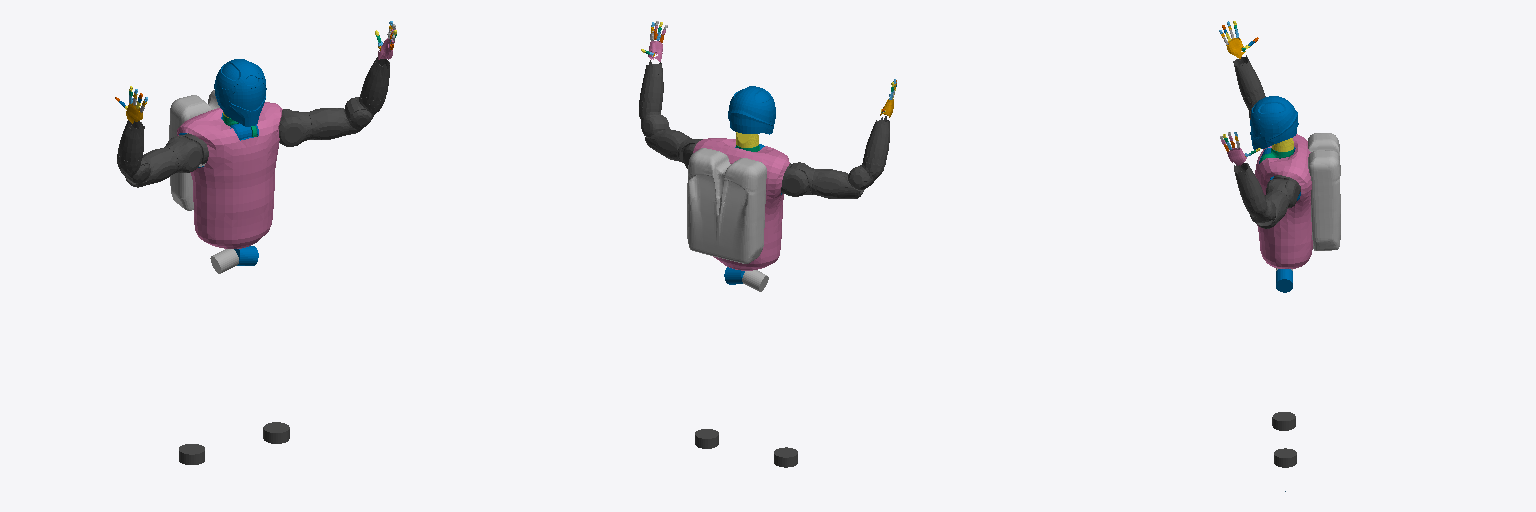
--- Facts derived from the render (not from the file) ---
3 views of the same robot in one strip: view 1: azimuth 30°, elevation 25°; view 2: azimuth 150°, elevation 25°; view 3: azimuth 270°, elevation 25° (orthographic).
Robot: r2 — 130 links, 129 joints (73 revolute, 1 prismatic, 55 fixed); root link world; default pose: joints at zero except 4 at the middle of their limits (r2/left_arm/joint2 = -2.84, r2/left_arm/joint3 = -1.44, r2/right_arm/joint2 = 2.84, r2/right_arm/joint3 = -1.44).
Visible links, largest first — view 1: r2/body_cover, r2/neck_roll, r2/backpack, r2/left_upper_arm, r2/right_upper_arm, r2/left_shoulder_pitch, r2/left_lower_arm, r2/right_lower_arm, r2/right_shoulder_pitch; view 2: r2/backpack, r2/body_cover, r2/neck_roll, r2/right_upper_arm, r2/left_lower_arm, r2/right_lower_arm, r2/left_upper_arm, r2/right_elbow, r2/right_shoulder_roll, r2/left_elbow; view 3: r2/body_cover, r2/backpack, r2/neck_roll, r2/right_lower_arm, r2/left_lower_arm, r2/left_upper_arm.
Link boxes in pixels (x1,y1,x2,y2): r2/body_cover: (177,102,282,248); r2/neck_roll: (214,59,266,126); r2/backpack: (169,90,219,210); r2/left_upper_arm: (308,108,371,139); r2/right_upper_arm: (125,147,178,187); r2/left_shoulder_pitch: (279,110,311,146); r2/left_lower_arm: (361,57,389,105); r2/right_lower_arm: (117,120,144,166); r2/right_shoulder_pitch: (165,137,202,172); r2/backpack: (687,148,766,263); r2/body_cover: (693,138,789,270); r2/neck_roll: (728,86,775,134); r2/right_upper_arm: (812,169,864,198); r2/left_lower_arm: (639,60,663,108); r2/right_lower_arm: (863,116,889,165); r2/left_upper_arm: (645,127,689,161); r2/right_elbow: (848,161,884,189); r2/right_shoulder_roll: (781,163,808,196); r2/left_elbow: (639,107,668,136); r2/body_cover: (1255,134,1312,268); r2/backpack: (1308,133,1340,250); r2/neck_roll: (1250,96,1298,149); r2/right_lower_arm: (1233,55,1264,102); r2/left_lower_arm: (1234,163,1264,207); r2/left_upper_arm: (1250,190,1288,228).
Bounding box of the posed robot: 1.55 × 0.6953 × 2.48 m (x, y, z).
Meshes: 33 distinct files referenced, 56 mesh visuals loaded (29 Collada DAE); not drawn: 13 (reference not matched to a file when rendering).

The robot description file, URDF, robot "r2":
<?xml version="1.0" ?>
<!-- =================================================================================== -->
<!-- |    This document was autogenerated by xacro from r2_fullbody.sim.urdf.xacro     | -->
<!-- |    EDITING THIS FILE BY HAND IS NOT RECOMMENDED                                 | -->
<!-- =================================================================================== -->
<robot name="r2" xmlns:controller="http://playerstage.sourceforge.net/gazebo/xmlschema/#controller" xmlns:interface="http://playerstage.sourceforge.net/gazebo/xmlschema/#interface" xmlns:sensor="http://playerstage.sourceforge.net/gazebo/xmlschema/#sensor" xmlns:xacro="http://playerstage.sourceforge.net/gazebo/xmlschema/#interface">
  <link name="world"/>
  <joint name="r2/fixed/world/robot_world" type="fixed">
    <parent link="world"/>
    <child link="r2/robot_world"/>
    <origin rpy="0 0 0.0" xyz="0.0 0.0 0.0"/>
  </joint>
  <link name="r2/robot_world"/>
  <joint name="r2/fixed/robot_world/robot_base" type="fixed">
    <parent link="r2/robot_world"/>
    <child link="r2/robot_base"/>
    <origin rpy="0 3.14159 1.57079" xyz="0.255 0.9 1.365"/>
  </joint>
  <link name="r2/robot_base"/>
  <joint name="r2/fixed/robot_base/leg_stand_connection" type="fixed">
    <parent link="r2/robot_base"/>
    <child link="r2/leg_stand_connection"/>
    <origin rpy="0 3.14159 0" xyz="0.0 0.0 0.0"/>
  </joint>
  <link name="r2/leg_stand_connection">
    <inertial>
      <mass value="0.01"/>
      <inertia ixx="0.0001" ixy="0.0" ixz="0.0" iyy="0.001" iyz="0.0" izz="0.001"/>
    </inertial>
  </link>
  <material name="white">
    <color rgba="1.0 1.0 1.0 1.0"/>
  </material>
  <material name="dirty_white">
    <color rgba="0.322 0.322 0.322 1.0"/>
  </material>
  <material name="gold">
    <color rgba=".878 .49 0.008 1"/>
  </material>
  <material name="steel">
    <color rgba=".7 .7 .7 1"/>
  </material>
  <material name="blue">
    <color rgba="0 0 0.8 1"/>
  </material>
  <joint name="r2/waist/joint0" type="revolute">
    <parent link="r2/robot_base"/>
    <child link="r2/waist_center"/>
    <axis xyz="0 0 1"/>
    <origin rpy="0.0 0 0.0" xyz="0.0 0.0 0.0"/>
    <dynamics damping="20.0" friction="1.0"/>
    <limit effort="10000000.0" lower="-3.14" upper="3.14" velocity="1000"/>
  </joint>
  <link name="r2/waist_center">
    <visual>
      <geometry>
        <mesh filename="package://r2_description/meshes/Body.dae"/>
      </geometry>
      <origin rpy="-1.57 0 -1.57" xyz="0.01 0.05 -0.5625"/>
    </visual>
    <!-- <collision>
      <geometry>
         <mesh filename="package://r2_description/meshes/Body.dae"/>  
      </geometry>
      <origin rpy="-1.57 0 -1.57" xyz="0.00 0.05 -0.5625"/>
    </collision> -->
    <inertial>
      <mass value="10"/>
      <inertia ixx="1" ixy="0.0" ixz="0.0" iyy="1" iyz="0.0" izz="1"/>
    </inertial>
  </link>
  <joint name="r2/fixed/waist_center/robot_reference" type="fixed">
    <parent link="r2/waist_center"/>
    <child link="r2/robot_reference"/>
    <origin rpy="0.0 0 0.0" xyz="0.1234 0.0 0.0"/>
  </joint>
  <joint name="r2/fixed/waist_center/body_cover" type="fixed">
    <parent link="r2/waist_center"/>
    <child link="r2/body_cover"/>
    <origin rpy="0.0 0.0 0.0" xyz="0 0.0 0.0"/>
  </joint>
  <joint name="r2/fixed/waist_center/backpack" type="fixed">
    <parent link="r2/waist_center"/>
    <child link="r2/backpack"/>
    <origin rpy="0.0 0.0 0.0" xyz="0 0.0 0.0"/>
  </joint>
  <joint name="r2/fixed/waist_center/chest_center" type="fixed">
    <parent link="r2/waist_center"/>
    <child link="r2/chest_center"/>
    <origin rpy="0.0 0.0 0.0" xyz="-0.01235 0.0 0.0"/>
  </joint>
  <link name="r2/robot_reference">
    <inertial>
      <mass value="0.01"/>
      <inertia ixx="0.0001" ixy="0.0" ixz="0.0" iyy="0.001" iyz="0.0" izz="0.001"/>
    </inertial>
  </link>
  <link name="r2/body_cover">
    <visual>
      <geometry>
        <mesh filename="package://r2_description/meshes/Body_Cover.dae"/>
      </geometry>
      <!--       <origin rpy="-1.57 0 -1.57" xyz="0.02 0.05 -0.5625"/>
 -->
      <origin rpy="-1.57 0 -1.57" xyz="0.01 0.05 -0.5625"/>
    </visual>
    <collision>
      <geometry>
        <mesh filename="package://r2_description/meshes/Body_Cover.dae"/>
      </geometry>
      <origin rpy="-1.57 0 -1.57" xyz="0.01 0.05 -0.5625"/>
    </collision>
    <inertial>
      <mass value="0.1"/>
      <inertia ixx="0.001" ixy="0.0" ixz="0.0" iyy="0.001" iyz="0.0" izz="0.001"/>
    </inertial>
  </link>
  <link name="r2/backpack">
    <visual>
      <geometry>
        <mesh filename="package://r2_description/meshes/Backpack.dae"/>
      </geometry>
      <origin rpy="0 0 0.25" xyz="0.0 0.0 -0.54"/>
    </visual>
    <collision>
      <geometry>
        <mesh filename="package://r2_description/meshes/Backpack.dae"/>
      </geometry>
      <origin rpy="0 0 0.25" xyz="0.0 0.0 -0.54"/>
    </collision>
    <inertial>
      <mass value="10"/>
      <inertia ixx="1" ixy="0.0" ixz="0.0" iyy="1" iyz="0.0" izz="1"/>
    </inertial>
  </link>
  <link name="r2/chest_center">
    <inertial>
      <mass value="0.01"/>
      <inertia ixx="0.0001" ixy="0.0" ixz="0.0" iyy="0.001" iyz="0.0" izz="0.001"/>
    </inertial>
  </link>
  <joint name="r2/fixed/chest_center/chest_base" type="fixed">
    <parent link="r2/chest_center"/>
    <child link="r2/chest_base"/>
    <origin rpy="0.0 -0.0 0.0 " xyz="-0.05299202 -0.0 -0.5442458"/>
  </joint>
  <link name="r2/chest_base">
    <inertial>
      <mass value="0.01"/>
      <inertia ixx="0.0001" ixy="0.0" ixz="0.0" iyy="0.001" iyz="0.0" izz="0.001"/>
    </inertial>
  </link>
  <joint name="r2/neck/joint0" type="revolute">
    <parent link="r2/waist_center"/>
    <child link="r2/neck_base"/>
    <origin rpy=" -1.570796 -0.0 0.0 " xyz=" 0.08636 0.0 -0.6142228 "/>
    <dynamics damping="1.0" friction="0.0"/>
    <axis xyz="0 0 1"/>
    <limit effort="10000.0" lower="-0.7" upper="0.175" velocity="1000.0"/>
  </joint>
  <link name="r2/neck_base">
    <visual>
      <geometry>
        <mesh filename="package://r2_description/meshes/Neck_Lower.dae"/>
      </geometry>
      <origin rpy="-1.57 1.57 0" xyz="0.0 0.0 0.0"/>
    </visual>
    <inertial>
      <mass value=".1"/>
      <inertia ixx=".0010" ixy="0.0" ixz="0.0" iyy=".0010" iyz="0.0" izz=".0010"/>
    </inertial>
    <collision>
      <geometry>
        <mesh filename="package://r2_description/meshes/Neck_Lower.dae"/>
      </geometry>
      <origin rpy="-1.57 1.57 0" xyz="0.0 0.0 0.0"/>
    </collision>
  </link>
  <joint name="r2/neck/joint1" type="revolute">
    <parent link="r2/neck_base"/>
    <child link="r2/neck_lower_pitch"/>
    <origin rpy=" -1.570796 -0.0 0.0 " xyz=" -0.0762 -0.0 0.0 "/>
    <dynamics damping="1.0" friction="0.0"/>
    <axis xyz="0 0 1"/>
    <limit effort="10000.0" lower="-1.22" upper="1.22" velocity="1000.0"/>
  </joint>
  <link name="r2/neck_lower_pitch">
    <visual>
      <geometry>
        <mesh filename="package://r2_description/meshes/Neck_Upper.dae"/>
      </geometry>
      <origin rpy="0 0 1.57" xyz="0.075 0.0 0.0"/>
    </visual>
    <inertial>
      <mass value=".1"/>
      <inertia ixx=".0010" ixy="0.0" ixz="0.0" iyy=".0010" iyz="0.0" izz=".0010"/>
    </inertial>
    <collision>
      <geometry>
        <mesh filename="package://r2_description/meshes/Neck_Upper.dae"/>
      </geometry>
      <origin rpy="0 0 1.57" xyz="0.075 0.0 0.0"/>
    </collision>
  </link>
  <joint name="r2/neck/joint2" type="revolute">
    <parent link="r2/neck_lower_pitch"/>
    <child link="r2/neck_roll"/>
    <origin rpy=" 1.570796 -0.0 0.0 " xyz=" 0.0508 0.0 0.1777619 "/>
    <dynamics damping="1.0" friction="0.0"/>
    <axis xyz="0 0 1"/>
    <limit effort="10000.0" lower="-0.7" upper="0.175" velocity="1000.0"/>
  </joint>
  <link name="r2/neck_roll">
    <visual>
      <geometry>
        <mesh filename="package://r2_description/meshes/Head.dae"/>
      </geometry>
      <origin rpy="0 1.57 0" xyz="-0.0 0.07 0.0"/>
    </visual>
    <collision>
      <geometry>
        <mesh filename="package://r2_description/meshes/Head.dae"/>
      </geometry>
      <origin rpy="0 1.57 0" xyz="-0.0 0.07 0.0"/>
    </collision>
    <inertial>
      <mass value=".1"/>
      <inertia ixx=".0010" ixy="0.0" ixz="0.0" iyy=".0010" iyz="0.0" izz=".0010"/>
    </inertial>
  </link>
  <joint name="r2/fixed/neck_roll/neck_upper_pitch" type="fixed">
    <parent link="r2/neck_roll"/>
    <child link="r2/neck_upper_pitch"/>
    <origin rpy=" 1.570796 -0.0 0.0 " xyz=" 0.0 0.0 0.0 "/>
  </joint>
  <link name="r2/neck_upper_pitch">
    <inertial>
      <mass value=".1"/>
      <inertia ixx=".0010" ixy="0.0" ixz="0.0" iyy=".0010" iyz="0.0" izz=".0010"/>
    </inertial>
  </link>
  <joint name="r2/fixed/neck_upper_pitch/asus_frame" type="fixed">
    <parent link="r2/neck_upper_pitch"/>
    <child link="r2/asus_frame"/>
    <origin rpy="1.50 0.0 1.57 " xyz="0.12 -0.015 -0.14 "/>
    <!-- OK    <origin rpy="1.45 0 1.57 " xyz="0.11 -0.040 -0.15 "/>  -->
    <!-- ORIGINAL     <origin rpy="1.57 0 1.57 " xyz="0.066675 -0.0508 -0.116205 "/>  -->
  </joint>
  <joint name="r2/fixed/neck_upper_pitch/simulated_asus_camera_frame" type="fixed">
    <parent link="r2/neck_upper_pitch"/>
    <child link="r2/simulated_asus_camera_frame"/>
    <dynamics damping="1.0"/>
    <origin rpy="3.14 0 0" xyz="0.12 -0.015 -0.14 "/>
    <!--     <origin rpy="0 0 0" xyz="0.12 -0.015 -0.14 "/> -->
  </joint>
  <joint name="r2/fixed/neck_upper_pitch/simulated_asus_depth_frame" type="fixed">
    <parent link="r2/neck_upper_pitch"/>
    <child link="r2/simulated_asus_depth_frame"/>
    <dynamics damping="1.0"/>
    <origin rpy="1.57 0 1.57" xyz="0.12 -0.015 -0.14 "/>
    <!--     <origin rpy="0 0 0" xyz="0.12 -0.015 -0.14 "/> -->
  </joint>
  <joint name="r2/fixed/neck_upper_pitch/vision_center_frame" type="fixed">
    <parent link="r2/neck_upper_pitch"/>
    <child link="r2/vision_center_frame"/>
    <dynamics damping="1.0"/>
    <origin rpy="1.57 -1.57 1.57" xyz=" 0.066675 0.0 -0.116205 "/>
  </joint>
  <link name="r2/asus_frame">
    <inertial>
      <mass value=".01"/>
      <inertia ixx=".0010" ixy="0.0" ixz="0.0" iyy=".0010" iyz="0.0" izz=".0010"/>
    </inertial>
  </link>
  <joint name="r2/fixed/asus_frame/openni_depth_frame" type="fixed">
    <parent link="r2/asus_frame"/>
    <child link="r2/openni_depth_frame"/>
    <origin rpy="1.57 -1.57 0 " xyz="0 0 0 "/>
  </joint>
  <link name="r2/openni_depth_frame">
    <inertial>
      <mass value=".01"/>
      <inertia ixx=".0010" ixy="0.0" ixz="0.0" iyy=".0010" iyz="0.0" izz=".0010"/>
    </inertial>
  </link>
  <link name="r2/simulated_asus_camera_frame">
    <inertial>
      <mass value=".01"/>
      <inertia ixx=".0010" ixy="0.0" ixz="0.0" iyy=".0010" iyz="0.0" izz=".0010"/>
    </inertial>
  </link>
  <link name="r2/simulated_asus_depth_frame">
    <inertial>
      <mass value=".01"/>
      <inertia ixx=".0010" ixy="0.0" ixz="0.0" iyy=".0010" iyz="0.0" izz=".0010"/>
    </inertial>
  </link>
  <link name="r2/vision_center_frame">
    <inertial>
      <mass value=".1"/>
      <inertia ixx=".0010" ixy="0.0" ixz="0.0" iyy=".0010" iyz="0.0" izz=".0010"/>
    </inertial>
  </link>
  <joint name="r2/fixed/vision_center_frame/left_camera_frame" type="fixed">
    <parent link="r2/vision_center_frame"/>
    <child link="r2/left_camera_frame"/>
    <dynamics damping="1.0"/>
    <origin rpy="0 0 1.57" xyz="0.0087 0.04887 0.01789"/>
  </joint>
  <joint name="r2/fixed/vision_center_frame/right_camera_frame" type="fixed">
    <parent link="r2/vision_center_frame"/>
    <child link="r2/right_camera_frame"/>
    <dynamics damping="1.0"/>
    <origin rpy="0 0 1.57" xyz="0.0087 -0.04887 0.01789"/>
  </joint>
  <link name="r2/left_camera_frame">
    <inertial>
      <mass value=".1"/>
      <inertia ixx=".0010" ixy="0.0" ixz="0.0" iyy=".0010" iyz="0.0" izz=".0010"/>
    </inertial>
  </link>
  <joint name="r2/fixed/left_camera_frame/left_camera_optical_frame" type="fixed">
    <parent link="r2/left_camera_frame"/>
    <child link="r2/left_camera_optical_frame"/>
    <dynamics damping="1.0"/>
    <origin rpy="-1.57 -1.57 0" xyz="0 0 0"/>
  </joint>
  <link name="r2/left_camera_optical_frame">
    <inertial>
      <mass value=".1"/>
      <inertia ixx=".0010" ixy="0.0" ixz="0.0" iyy=".0010" iyz="0.0" izz=".0010"/>
    </inertial>
  </link>
  <link name="r2/right_camera_frame">
    <inertial>
      <mass value=".1"/>
      <inertia ixx=".0010" ixy="0.0" ixz="0.0" iyy=".0010" iyz="0.0" izz=".0010"/>
    </inertial>
  </link>
  <joint name="r2/fixed/right_camera_frame/right_camera_optical_frame" type="fixed">
    <parent link="r2/right_camera_frame"/>
    <child link="r2/right_camera_optical_frame"/>
    <dynamics damping="1.0"/>
    <origin rpy="-1.57 -1.57 0" xyz="0 0 0"/>
  </joint>
  <link name="r2/right_camera_optical_frame">
    <inertial>
      <mass value=".1"/>
      <inertia ixx=".0010" ixy="0.0" ixz="0.0" iyy=".0010" iyz="0.0" izz=".0010"/>
    </inertial>
  </link>
  <joint name="r2/left_arm/joint0" type="revolute">
    <parent link="r2/chest_base"/>
    <child link="r2/left_shoulder_roll"/>
    <origin rpy=" -1.5664 -0.0 -2.8802 " xyz=" -0.0 -0.0 0.0 "/>
    <axis xyz="0 0 1"/>
    <dynamics damping="10.0" friction="0.0"/>
    <limit effort="100.0" lower="-1.57" upper="1.57" velocity="1000"/>
  </joint>
  <link name="r2/left_shoulder_roll">
    <visual>
      <geometry>
        <mesh filename="package://r2_description/meshes/Left_Shoulder_Upper.dae"/>
      </geometry>
      <material name="dirty_white"/>
      <origin rpy="0 0 1.57" xyz="0 0 .08"/>
    </visual>
    <!-- <collision>
      <geometry>
        <mesh filename="package://r2_description/meshes/Left_Shoulder_Upper.dae" scale="0.7 0.7 0.7"/>
      </geometry>
      <origin rpy="0 0 1.57" xyz="0 0 .08"/>
    </collision> -->
    <inertial>
      <origin xyz="-0.0089916 -0.00131572   0.10287   "/>
      <mass value="6.168856232"/>
      <inertia ixx="0.0198585269" ixy="-0.0060195977" ixz="-0.0003950635" iyy="0.0671900643" iyz="0.00012683" izz="0.0634150128"/>
    </inertial>
  </link>
  <joint name="r2/left_arm/joint1" type="revolute">
    <parent link="r2/left_shoulder_roll"/>
    <child link="r2/left_shoulder_pitch"/>
    <origin rpy=" -1.5701 -0.0 1.570796 " xyz=" 0.0 0.0 0.316611 "/>
    <axis xyz="0 0 1"/>
    <dynamics damping="10.0" friction="0.0"/>
    <limit effort="100.0" lower="-1.66" upper=".175" velocity="1000"/>
  </joint>
  <link name="r2/left_shoulder_pitch">
    <visual>
      <geometry>
        <mesh filename="package://r2_description/meshes/Left_Shoulder_Lower.dae"/>
      </geometry>
      <material name="dirty_white"/>
      <origin rpy=".0 0 -1.57" xyz="0 0 0"/>
    </visual>
    <!-- <collision>
      <geometry>
        <mesh filename="package://r2_description/meshes/Left_Shoulder_Lower.dae"/>
      </geometry>
      <origin rpy=".0 0 -1.57" xyz="0 0 0"/>
    </collision> -->
    <inertial>
      <origin xyz="0.037084 -0.00028448   0.0077978   "/>
      <mass value="4.4270615312"/>
      <inertia ixx="0.02701064" ixy="0.001512947" ixz="-0.000052382497887" iyy="0.0113836825" iyz="0.0000217138622526" izz="0.0251962741"/>
    </inertial>
  </link>
  <joint name="r2/left_arm/joint2" type="revolute">
    <parent link="r2/left_shoulder_pitch"/>
    <child link="r2/left_upper_arm"/>
    <origin rpy=" 1.57 -0.0 0.0 " xyz=" 0.0 0.0 0.0 "/>
    <axis xyz="0 0 1"/>
    <dynamics damping="10.0" friction="0.0"/>
    <limit effort="100.0" lower="-4.89" upper="-0.79" velocity="1000"/>
  </joint>
  <link name="r2/left_upper_arm">
    <visual>
      <geometry>
        <mesh filename="package://r2_description/meshes/Left_Upper_Arm.dae"/>
      </geometry>
      <material name="dirty_white"/>
      <origin rpy="0 0 3.14" xyz="0 0 .1016"/>
    </visual>
    <collision>
      <geometry>
        <mesh filename="package://r2_description/meshes/Left_Upper_Arm.dae" scale="0.8 0.8 0.8"/>
      </geometry>
      <origin rpy="0 0 3.14" xyz="0 0 .1016"/>
    </collision>
    <inertial>
      <origin xyz="-0.0074168 -0.041402   0.1016   "/>
      <mass value="4.853438359"/>
      <inertia ixx="0.016007389" ixy="-0.00339462" ixz="0.0065843922" iyy="0.0462370652" iyz="0.0013754064" izz="0.04214011"/>
    </inertial>
  </link>
  <joint name="r2/left_arm/joint3" type="revolute">
    <parent link="r2/left_upper_arm"/>
    <child link="r2/left_elbow"/>
    <origin rpy=" -1.5748 -0.0 0.0 " xyz=" -0.05437886 -0.0 0.3564382 "/>
    <axis xyz="0 0 1"/>
    <dynamics damping="1.0" friction="0.0"/>
    <limit effort="100.0" lower="-2.79" upper="-.087" velocity="1000"/>
  </joint>
  <link name="r2/left_elbow">
    <visual>
      <geometry>
        <mesh filename="package://r2_description/meshes/Left_Elbow.dae"/>
      </geometry>
      <material name="dirty_white"/>
      <origin rpy="0 0 -1.57" xyz="0 0 0"/>
    </visual>
    <collision>
      <geometry>
        <mesh filename="package://r2_description/meshes/Left_Elbow.dae"/>
      </geometry>
      <origin rpy="0 0 -1.57" xyz="0 0 0"/>
    </collision>
    <inertial>
      <origin xyz="0.026162 0.033782   0.0154432   "/>
      <mass value="2.9710300235"/>
      <inertia ixx="0.0120274897" ixy="0.0016417085" ixz="-0.001188117" iyy="0.0088377175" iyz="0.0031605083" izz="0.0105350275"/>
    </inertial>
  </link>
  <joint name="r2/left_arm/joint4" type="revolute">
    <parent link="r2/left_elbow"/>
    <child link="r2/left_lower_arm"/>
    <origin rpy=" 1.5738 -0.0 0.0 " xyz=" 0.0540385 0.0 0.0 "/>
    <axis xyz="0 0 1"/>
    <dynamics damping="1.0" friction="0.0"/>
    <limit effort="100.0" lower="-1.3" upper="4.45" velocity="1000"/>
  </joint>
  <link name="r2/left_lower_arm">
    <visual>
      <geometry>
        <mesh filename="package://r2_description/meshes/Left_Forearm.dae"/>
      </geometry>
      <origin xyz="0 0 0.1"/>
      <material name="dirty_white"/>
    </visual>
    <collision>
      <geometry>
        <mesh filename="package://r2_description/meshes/Left_Forearm.dae"/>
      </geometry>
      <origin xyz="0 0 0.1"/>
    </collision>
    <inertial>
      <origin xyz="0.0003556 -0.00122682   0.17653   "/>
      <mass value="6.939963261"/>
      <inertia ixx="0.0125249771" ixy="-0.0002446467" ixz="0.0005208986" iyy="0.0395063532" iyz="-0.0001691457" izz="0.0403842721"/>
    </inertial>
  </link>
  <joint name="r2/left_arm/joint5" type="revolute">
    <parent link="r2/left_lower_arm"/>
    <child link="r2/left_wrist_pitch"/>
    <origin rpy=" -1.5952 -0.0 0.0 " xyz=" 0.0 0.0 0.3570478 "/>
    <axis xyz="0 0 1"/>
    <dynamics damping="1.0" friction="0.0"/>
    <limit effort="100.0" lower="-1.22" upper="1.22" velocity="1000"/>
  </joint>
  <link name="r2/left_wrist_pitch">
    <inertial>
      <origin xyz="-0.004064   0.000000152908   -0.00092202"/>
      <mass value="0.1165732391"/>
      <inertia ixx="0.1" ixy="0.0" ixz="0.0" iyy="0.1" iyz="0.0" izz="0.1"/>
    </inertial>
  </link>
  <joint name="r2/left_arm/joint6" type="revolute">
    <parent link="r2/left_wrist_pitch"/>
    <child link="r2/left_wrist_yaw"/>
    <origin rpy=" 1.6505 -0.0 -1.5727 " xyz=" -0.00001156 -0.006072621 0.0 "/>
    <axis xyz="0 0 1"/>
    <dynamics damping="1.0" friction="0.0"/>
    <limit effort="100.0" lower="-0.785" upper="0.785" velocity="1000"/>
  </joint>
  <link name="r2/left_wrist_yaw">
    <inertial>
      <origin xyz="-0.00090932   -0.0253746  0.067564     "/>
      <mass value="0.1"/>
      <inertia ixx="0.1" ixy="0.0" ixz="0.0" iyy="0.1" iyz="0.0" izz="0.1"/>
    </inertial>
  </link>
  <joint name="r2/fixed/left_wrist_yaw/left_palm" type="fixed">
    <parent link="r2/left_wrist_yaw"/>
    <child link="r2/left_palm"/>
    <origin rpy=" 0.0 -0.0 -0.014 " xyz=" 0.0 -0.0 0.0 "/>
  </joint>
  <link name="r2/left_palm">
    <visual>
      <geometry>
        <mesh filename="package://r2_description/meshes/Left_Palm.dae"/>
      </geometry>
      <origin rpy="3.14 0 1.57" xyz="0.0 0.0 -0.0"/>
    </visual>
    <collision>
      <geometry>
        <mesh filename="package://r2_description/meshes/Left_Palm.dae"/>
      </geometry>
      <origin rpy="3.14 0 1.57" xyz="0.0 0.0 -0.0"/>
    </collision>
    <inertial>
      <origin xyz="0.067564   -0.0253746   -0.00090932"/>
      <mass value="1.1"/>
      <inertia ixx="0.1" ixy="0.0" ixz="0.0" iyy="0.1" iyz="0.0" izz="0.1"/>
    </inertial>
  </link>
  <joint name="r2/left_arm/hand/thumb/joint0" type="revolute">
    <parent link="r2/left_wrist_yaw"/>
    <child link="r2/left_thumb_base"/>
    <origin rpy=" -1.57079632679 -0.0 1.30899702752 " xyz=" 0.03302 0.03048 0.00635 "/>
    <axis xyz="0 0 1"/>
    <limit effort="10000000.0" lower="-1.2217" upper="0.0" velocity="1000"/>
    <dynamics damping="0.1" friction="0.0"/>
  </joint>
  <joint name="r2/fixed/left_index_base/left_index_base" type="fixed">
    <parent link="r2/left_wrist_yaw"/>
    <child link="r2/left_index_base"/>
    <origin rpy=" 0.0 -0.0 0.122172725275 " xyz=" 0.0994646728 0.0271119346 -0.0161544 "/>
  </joint>
  <joint name="r2/left_arm/hand/index/joint0" type="revolute">
    <parent link="r2/left_index_base"/>
    <child link="r2/left_index_yaw"/>
    <origin rpy="0.0 0.0 0.0" xyz="0.0 0.0 0.0"/>
    <axis xyz="0 0 1"/>
    <limit effort="10000000.0" lower="-0.3491" upper="0.3491" velocity="1000"/>
    <dynamics damping="0.1" friction="0.0"/>
  </joint>
  <joint name="r2/fixed/left_middle_base/left_middle_base" type="fixed">
    <parent link="r2/left_wrist_yaw"/>
    <child link="r2/left_middle_base"/>
    <origin rpy=" 0.0 -0.0 0.0 " xyz=" 0.10646537 0.00254 -0.0161544 "/>
  </joint>
  <joint name="r2/left_arm/hand/middle/joint0" type="revolute">
    <parent link="r2/left_middle_base"/>
    <child link="r2/left_middle_yaw"/>
    <origin rpy="0.0 0.0 0.0" xyz="0.0 0.0 0.0"/>
    <axis xyz="0 0 1"/>
    <limit effort="10000000.0" lower="-0.3491" upper="0.3491" velocity="1000"/>
    <dynamics damping="0.1" friction="0.0"/>
  </joint>
  <joint name="r2/left_arm/hand/ring/joint0" type="revolute">
    <parent link="r2/left_wrist_yaw"/>
    <child link="r2/left_ring_proximal"/>
    <origin rpy=" 1.57079632679 -0.0 -0.122172725275 " xyz=" 0.1084570602 -0.0197673468 -0.012319 "/>
    <axis xyz="0 0 1"/>
    <limit effort="10000000.0" lower="0" upper="2.9671" velocity="1000"/>
    <dynamics damping="0.1" friction="0.0"/>
  </joint>
  <joint name="r2/left_arm/hand/little/joint0" type="revolute">
    <parent link="r2/left_wrist_yaw"/>
    <child link="r2/left_little_proximal"/>
    <origin rpy=" 1.60570321374 -0.0872667473393 -0.17453258148 " xyz=" 0.094635701 -0.0403792436 -0.0060878212 "/>
    <axis xyz="0 0 1"/>
    <limit effort="10000000.0" lower="0" upper="2.9671" velocity="1000"/>
    <dynamics damping="0.1" friction="0.0"/>
  </joint>
  <link name="r2/left_thumb_base">
    <inertial>
      <mass value=".05"/>
      <inertia ixx=".0010" ixy="0.0" ixz="0.0" iyy=".0010" iyz="0.0" izz=".0010"/>
    </inertial>
  </link>
  <joint name="r2/fixed/left_thumb_base/left_thumb_proximal" type="fixed">
    <parent link="r2/left_thumb_base"/>
    <child link="r2/left_thumb_proximal"/>
    <origin rpy=" -1.570796 -0.0 0.0 " xyz=" 0.011938 0.0 0.0 "/>
  </joint>
  <link name="r2/left_thumb_proximal">
    <inertial>
      <mass value=".0010"/>
      <inertia ixx=".0010" ixy="0.0" ixz="0.0" iyy=".0010" iyz="0.0" izz=".0010"/>
    </inertial>
    <visual>
      <geometry>
        <mesh filename="package://r2_description/meshes/Left_Thumb_Carp.dae"/>
      </geometry>
      <origin rpy="-1.57 0 0" xyz="-0.01 0.0 0.0"/>
    </visual>
    <collision>
      <geometry>
        <mesh filename="package://r2_description/meshes/Left_Thumb_Carp.dae"/>
      </geometry>
      <origin rpy="-1.57 0 0" xyz="-0.01 0.0 0.0"/>
    </collision>
  </link>
  <joint name="r2/left_arm/hand/thumb/joint1" type="revolute">
    <parent link="r2/left_thumb_proximal"/>
    <child link="r2/left_thumb_medial_prime"/>
    <origin rpy=" 0.0 -0.0 0.0 " xyz=" 0.0 0.0 0.0 "/>
    <axis xyz="0 0 1"/>
    <limit effort="10000000.0" lower="0.0" upper="1.3963" velocity="1000"/>
    <dynamics damping="0.1" friction="0.0"/>
  </joint>
  <link name="r2/left_thumb_medial_prime">
    <inertial>
      <mass value=".0010"/>
      <inertia ixx=".0010" ixy="0.0" ixz="0.0" iyy=".0010" iyz="0.0" izz=".0010"/>
    </inertial>
    <visual>
      <geometry>
        <mesh filename="package://r2_description/meshes/Left_Thumb_MtCar.dae"/>
      </geometry>
      <origin rpy="-1.57 -1.57 0" xyz="-0.0 0 0.0"/>
    </visual>
    <collision>
      <geometry>
        <mesh filename="package://r2_description/meshes/Left_Thumb_MtCar.dae"/>
      </geometry>
      <origin rpy="-1.57 -1.57 0" xyz="0.0 0.0 0.0"/>
    </collision>
  </link>
  <joint name="r2/left_arm/hand/thumb/joint2" type="revolute">
    <parent link="r2/left_thumb_medial_prime"/>
    <child link="r2/left_thumb_medial"/>
    <origin rpy=" -0.698132284627 -0.0 0.0 " xyz=" 0.030734 -0.001905 0.00254 "/>
    <axis xyz="0 0 1"/>
    <limit effort="10000000.0" lower="0.0" upper="1.2217" velocity="1000"/>
    <dynamics damping="0.1" friction="0.0"/>
  </joint>
  <link name="r2/left_thumb_medial">
    <inertial>
      <mass value=".0010"/>
      <inertia ixx=".0010" ixy="0.0" ixz="0.0" iyy=".0010" iyz="0.0" izz=".0010"/>
    </inertial>
    <visual>
      <geometry>
        <mesh filename="package://r2_description/meshes/Thumb_Proximal.dae"/>
      </geometry>
      <origin rpy="3.14 0 1.57" xyz="0.0 0.0 0.0"/>
    </visual>
    <collision>
      <geometry>
        <mesh filename="package://r2_description/meshes/Thumb_Proximal.dae"/>
      </geometry>
      <origin rpy="3.14 0 1.57" xyz="0.0 0.0 0.0"/>
    </collision>
  </link>
  <joint name="r2/left_arm/hand/thumb/joint3" type="revolute">
    <parent link="r2/left_thumb_medial"/>
    <child link="r2/left_thumb_distal"/>
    <origin rpy=" 0.0 -0.0 0.0 " xyz=" 0.03937 0.0 0.0 "/>
    <axis xyz="0 0 1"/>
    <limit effort="10000000.0" lower="-0.5236" upper="1.57" velocity="1000"/>
    <dynamics damping="0.1" friction="0.0"/>
  </joint>
  <link name="r2/left_thumb_distal">
    <inertial>
      <mass value=".0010"/>
      <inertia ixx=".0010" ixy="0.0" ixz="0.0" iyy=".0010" iyz="0.0" izz=".0010"/>
    </inertial>
    <visual>
      <geometry>
        <mesh filename="package://r2_description/meshes/Thumb_Dist.dae"/>
      </geometry>
      <origin rpy="3.14 3.14 0" xyz="0.0 0.0 0.0"/>
    </visual>
    <collision>
      <geometry>
        <mesh filename="package://r2_description/meshes/Thumb_Dist.dae"/>
      </geometry>
      <origin rpy="3.14 3.14 0" xyz="0.0 0.0 0.0"/>
    </collision>
  </link>
  <joint name="r2/fixed/left_thumb_distal/left_thumb_tip" type="fixed">
    <parent link="r2/left_thumb_distal"/>
    <child link="r2/left_thumb_tip"/>
    <origin rpy=" 0.0 -0.0 0.0 " xyz=" 0.03302 0.0 0.0 "/>
  </joint>
  <link name="r2/left_thumb_tip">
    <inertial>
      <mass value=".0010"/>
      <inertia ixx=".0010" ixy="0.0" ixz="0.0" iyy=".0010" iyz="0.0" izz=".0010"/>
    </inertial>
  </link>
  <link name="r2/left_index_base">
    <inertial>
      <mass value=".0010"/>
      <inertia ixx=".0010" ixy="0.0" ixz="0.0" iyy=".0010" iyz="0.0" izz=".0010"/>
    </inertial>
  </link>
  <link name="r2/left_index_yaw">
    <inertial>
      <mass value=".0010"/>
      <inertia ixx=".0010" ixy="0.0" ixz="0.0" iyy=".0010" iyz="0.0" izz=".0010"/>
    </inertial>
  </link>
  <joint name="r2/left_arm/hand/index/joint1" type="revolute">
    <parent link="r2/left_index_yaw"/>
    <child link="r2/left_index_proximal"/>
    <origin rpy=" 1.570796 0.0 0.0 " xyz=" 0.009652 0.0 0.0 "/>
    <axis xyz="0 0 1"/>
    <limit effort="10000000.0" lower="0.0" upper="1.57" velocity="1000"/>
    <dynamics damping="0.1" friction="0.0"/>
  </joint>
  <link name="r2/left_index_proximal">
    <inertial>
      <mass value=".0010"/>
      <inertia ixx=".0010" ixy="0.0" ixz="0.0" iyy=".0010" iyz="0.0" izz=".0010"/>
    </inertial>
    <visual>
      <geometry>
        <mesh filename="package://r2_description/meshes/Finger_Proximal.dae"/>
      </geometry>
      <origin rpy="0 0 1.57" xyz="0.0 0.0 0.0"/>
    </visual>
    <collision>
      <geometry>
        <mesh filename="package://r2_description/meshes/Finger_Proximal.dae"/>
      </geometry>
      <origin rpy="0 0 1.57" xyz="0.0 0.0 0.0"/>
    </collision>
  </link>
  <joint name="r2/left_arm/hand/index/joint2" type="revolute">
    <parent link="r2/left_index_proximal"/>
    <child link="r2/left_index_medial"/>
    <origin rpy=" 0.0 -0.0 0.0 " xyz=" 0.04445 0.0 0.0 "/>
    <axis xyz="0 0 1"/>
    <limit effort="10000000.0" lower="0.0" upper="1.57" velocity="1000"/>
    <dynamics damping="0.1" friction="0.0"/>
  </joint>
  <link name="r2/left_index_medial">
    <inertial>
      <mass value=".0010"/>
      <inertia ixx=".0010" ixy="0.0" ixz="0.0" iyy=".0010" iyz="0.0" izz=".0010"/>
    </inertial>
    <visual>
      <geometry>
        <mesh filename="package://r2_description/meshes/Finger_Mid.dae"/>
      </geometry>
      <origin rpy="3.14 0 1.57" xyz="0.0 0.0 0.0"/>
    </visual>
    <collision>
      <geometry>
        <mesh filename="package://r2_description/meshes/Finger_Mid.dae"/>
      </geometry>
      <origin rpy="3.14 0 1.57" xyz="0.0 0.0 0.0"/>
    </collision>
  </link>
  <joint name="r2/left_arm/hand/index/joint3" type="revolute">
    <parent link="r2/left_index_medial"/>
    <child link="r2/left_index_distal"/>
    <origin rpy=" 0.0 -0.0 0.0 " xyz=" 0.03048 0.0 0.0 "/>
    <axis xyz="0 0 1"/>
    <limit effort="10000000.0" lower="0.0" upper="1.57" velocity="1000"/>
    <dynamics damping="0.1" friction="0.0"/>
  </joint>
  <link name="r2/left_index_distal">
    <inertial>
      <mass value=".0010"/>
      <inertia ixx=".0010" ixy="0.0" ixz="0.0" iyy=".0010" iyz="0.0" izz=".0010"/>
    </inertial>
    <visual>
      <geometry>
        <mesh filename="package://r2_description/meshes/Finger_Dist.dae"/>
      </geometry>
      <origin rpy="0 -1.57 0" xyz="0.0 0.0 0.0"/>
    </visual>
    <collision>
      <geometry>
        <mesh filename="package://r2_description/meshes/Finger_Dist.dae"/>
      </geometry>
      <origin rpy="0 -1.57 0" xyz="0.0 0.0 0.0"/>
    </collision>
  </link>
  <joint name="r2/fixed/left_index_distal/left_index_tip" type="fixed">
    <parent link="r2/left_index_distal"/>
    <child link="r2/left_index_tip"/>
    <origin rpy=" 0.0 -0.0 0.0 " xyz=" 0.024638 0.0 0.0 "/>
  </joint>
  <link name="r2/left_index_tip">
    <inertial>
      <mass value=".0010"/>
      <inertia ixx=".0010" ixy="0.0" ixz="0.0" iyy=".0010" iyz="0.0" izz=".0010"/>
    </inertial>
  </link>
  <link name="r2/left_middle_base">
    <inertial>
      <mass value=".0010"/>
      <inertia ixx=".0010" ixy="0.0" ixz="0.0" iyy=".0010" iyz="0.0" izz=".0010"/>
    </inertial>
  </link>
  <link name="r2/left_middle_yaw">
    <inertial>
      <mass value=".0010"/>
      <inertia ixx=".0010" ixy="0.0" ixz="0.0" iyy=".0010" iyz="0.0" izz=".0010"/>
    </inertial>
  </link>
  <joint name="r2/left_arm/hand/middle/joint1" type="revolute">
    <parent link="r2/left_middle_yaw"/>
    <child link="r2/left_middle_proximal"/>
    <origin rpy=" 1.570796 -0.0 0.0 " xyz=" 0.009652 0.0 0.0 "/>
    <axis xyz="0 0 1"/>
    <limit effort="10000000.0" lower="0.0" upper="1.57" velocity="1000"/>
    <dynamics damping="0.1" friction="0.0"/>
  </joint>
  <link name="r2/left_middle_proximal">
    <inertial>
      <mass value=".0010"/>
      <inertia ixx=".0010" ixy="0.0" ixz="0.0" iyy=".0010" iyz="0.0" izz=".0010"/>
    </inertial>
    <visual>
      <geometry>
        <mesh filename="package://r2_description/meshes/Finger_Proximal.dae"/>
      </geometry>
      <origin rpy="0 0 1.57" xyz="0.0 0.0 0.0"/>
    </visual>
    <collision>
      <geometry>
        <mesh filename="package://r2_description/meshes/Finger_Proximal.dae"/>
      </geometry>
      <origin rpy="0 0 1.57" xyz="0.0 0.0 0.0"/>
    </collision>
  </link>
  <joint name="r2/left_arm/hand/middle/joint2" type="revolute">
    <parent link="r2/left_middle_proximal"/>
    <child link="r2/left_middle_medial"/>
    <origin rpy=" 0.0 -0.0 0.0 " xyz=" 0.04445 0.0 0.0 "/>
    <axis xyz="0 0 1"/>
    <limit effort="10000000.0" lower="0.0" upper="1.57" velocity="1000"/>
    <dynamics damping="0.1" friction="0.0"/>
  </joint>
  <link name="r2/left_middle_medial">
    <inertial>
      <mass value=".0010"/>
      <inertia ixx=".0010" ixy="0.0" ixz="0.0" iyy=".0010" iyz="0.0" izz=".0010"/>
    </inertial>
    <visual>
      <geometry>
        <mesh filename="package://r2_description/meshes/Finger_Mid.dae"/>
      </geometry>
      <origin rpy="3.14 0 1.57" xyz="0.0 0.0 0.0"/>
    </visual>
    <collision>
      <geometry>
        <mesh filename="package://r2_description/meshes/Finger_Mid.dae"/>
      </geometry>
      <origin rpy="3.14 0 1.57" xyz="0.0 0.0 0.0"/>
    </collision>
  </link>
  <joint name="r2/left_arm/hand/middle/joint3" type="revolute">
    <parent link="r2/left_middle_medial"/>
    <child link="r2/left_middle_distal"/>
    <origin rpy=" 0.0 -0.0 0.0 " xyz=" 0.03048 0.0 0.0 "/>
    <axis xyz="0 0 1"/>
    <limit effort="10000000.0" lower="0.0" upper="1.57" velocity="1000"/>
    <dynamics damping="0.1" friction="0.0"/>
  </joint>
  <link name="r2/left_middle_distal">
    <inertial>
      <mass value=".0010"/>
      <inertia ixx=".0010" ixy="0.0" ixz="0.0" iyy=".0010" iyz="0.0" izz=".0010"/>
    </inertial>
    <visual>
      <geometry>
        <mesh filename="package://r2_description/meshes/Finger_Dist.dae"/>
      </geometry>
      <origin rpy="0 -1.57 0" xyz="0.0 0.0 0.0"/>
    </visual>
    <collision>
      <geometry>
        <mesh filename="package://r2_description/meshes/Finger_Dist.dae"/>
      </geometry>
      <origin rpy="0 -1.57 0" xyz="0.0 0.0 0.0"/>
    </collision>
  </link>
  <joint name="r2/fixed/left_middle_distal/left_middle_tip" type="fixed">
    <parent link="r2/left_middle_distal"/>
    <child link="r2/left_middle_tip"/>
    <origin rpy=" 0.0 -0.0 0.0 " xyz=" 0.024638 0.0 0.0 "/>
  </joint>
  <link name="r2/left_middle_tip">
    <inertial>
      <mass value=".0010"/>
      <inertia ixx=".0010" ixy="0.0" ixz="0.0" iyy=".0010" iyz="0.0" izz=".0010"/>
    </inertial>
  </link>
  <link name="r2/left_ring_proximal">
    <inertial>
      <mass value=".0010"/>
      <inertia ixx=".0010" ixy="0.0" ixz="0.0" iyy=".0010" iyz="0.0" izz=".0010"/>
    </inertial>
    <visual>
      <geometry>
        <mesh filename="package://r2_description/meshes/Finger_Proximal.dae"/>
      </geometry>
      <origin rpy="0 0 1.57" xyz="0.0 0.0 0.0"/>
    </visual>
    <collision>
      <geometry>
        <mesh filename="package://r2_description/meshes/Finger_Proximal.dae"/>
      </geometry>
      <origin rpy="0 0 1.57" xyz="0.0 0.0 0.0"/>
    </collision>
  </link>
  <joint name="r2/left_arm/hand/ring/joint1" type="revolute">
    <parent link="r2/left_ring_proximal"/>
    <child link="r2/left_ring_medial"/>
    <origin rpy=" 0.0 -0.0 0.0 " xyz=" 0.04445 0.0 0.0 "/>
    <axis xyz="0 0 1"/>
    <limit effort="10000000.0" lower="0" upper="2.9671" velocity="1000"/>
    <dynamics damping="0.1" friction="0.0"/>
  </joint>
  <link name="r2/left_ring_medial">
    <inertial>
      <mass value=".0010"/>
      <inertia ixx=".0010" ixy="0.0" ixz="0.0" iyy=".0010" iyz="0.0" izz=".0010"/>
    </inertial>
    <visual>
      <geometry>
        <mesh filename="package://r2_description/meshes/Finger_Mid.dae"/>
      </geometry>
      <origin rpy="3.14 0 1.57" xyz="0.0 0.0 0.0"/>
    </visual>
    <collision>
      <geometry>
        <mesh filename="package://r2_description/meshes/Finger_Mid.dae"/>
      </geometry>
      <origin rpy="3.14 0 1.57" xyz="0.0 0.0 0.0"/>
    </collision>
  </link>
  <joint name="r2/left_arm/hand/ring/joint2" type="revolute">
    <parent link="r2/left_ring_medial"/>
    <child link="r2/left_ring_distal"/>
    <origin rpy=" 0.0 -0.0 0.0 " xyz=" 0.03048 0.0 0.0 "/>
    <axis xyz="0 0 1"/>
    <limit effort="10000000.0" lower="0" upper="2.9671" velocity="1000"/>
    <dynamics damping="0.1" friction="0.0"/>
  </joint>
  <link name="r2/left_ring_distal">
    <inertial>
      <mass value=".0010"/>
      <inertia ixx=".0010" ixy="0.0" ixz="0.0" iyy=".0010" iyz="0.0" izz=".0010"/>
    </inertial>
    <visual>
      <geometry>
        <mesh filename="package://r2_description/meshes/Finger_Dist.dae"/>
      </geometry>
      <origin rpy="0 -1.57 0" xyz="0.0 0.0 0.0"/>
    </visual>
    <collision>
      <geometry>
        <mesh filename="package://r2_description/meshes/Finger_Dist.dae"/>
      </geometry>
      <origin rpy="0 -1.57 0" xyz="0.0 0.0 0.0"/>
    </collision>
  </link>
  <joint name="r2/fixed/left_ring_distal/left_ring_tip" type="fixed">
    <parent link="r2/left_ring_distal"/>
    <child link="r2/left_ring_tip"/>
    <origin rpy=" 0.0 -0.0 0.0 " xyz=" 0.024638 0.0 0.0 "/>
  </joint>
  <link name="r2/left_ring_tip">
    <inertial>
      <mass value=".0010"/>
      <inertia ixx=".0010" ixy="0.0" ixz="0.0" iyy=".0010" iyz="0.0" izz=".0010"/>
    </inertial>
  </link>
  <link name="r2/left_little_proximal">
    <inertial>
      <mass value=".0010"/>
      <inertia ixx=".0010" ixy="0.0" ixz="0.0" iyy=".0010" iyz="0.0" izz=".0010"/>
    </inertial>
    <visual>
      <geometry>
        <mesh filename="package://r2_description/meshes/Finger_Proximal.dae"/>
      </geometry>
      <origin rpy="0 0 1.57" xyz="0.0 0.0 0.0"/>
    </visual>
    <collision>
      <geometry>
        <mesh filename="package://r2_description/meshes/Finger_Proximal.dae"/>
      </geometry>
      <origin rpy="0 0 1.57" xyz="0.0 0.0 0.0"/>
    </collision>
  </link>
  <joint name="r2/left_arm/hand/little/joint1" type="revolute">
    <parent link="r2/left_little_proximal"/>
    <child link="r2/left_little_medial"/>
    <origin rpy=" 0.0 -0.0 0.0 " xyz=" 0.04445 0.0 0.0 "/>
    <axis xyz="0 0 1"/>
    <limit effort="10000000.0" lower="0" upper="2.9671" velocity="1000"/>
    <dynamics damping="0.1" friction="0.0"/>
  </joint>
  <link name="r2/left_little_medial">
    <inertial>
      <mass value=".0010"/>
      <inertia ixx=".0010" ixy="0.0" ixz="0.0" iyy=".0010" iyz="0.0" izz=".0010"/>
    </inertial>
    <visual>
      <geometry>
        <mesh filename="package://r2_description/meshes/Finger_Mid.dae"/>
      </geometry>
      <origin rpy="3.14 0 1.57" xyz="0.0 0.0 0.0"/>
    </visual>
    <collision>
      <geometry>
        <mesh filename="package://r2_description/meshes/Finger_Mid.dae"/>
      </geometry>
      <origin rpy="3.14 0 1.57" xyz="0.0 0.0 0.0"/>
    </collision>
  </link>
  <joint name="r2/left_arm/hand/little/joint2" type="revolute">
    <parent link="r2/left_little_medial"/>
    <child link="r2/left_little_distal"/>
    <origin rpy=" 0.0 -0.0 0.0 " xyz=" 0.03048 0.0 0.0 "/>
    <axis xyz="0 0 1"/>
    <limit effort="10000000.0" lower="0" upper="2.9671" velocity="1000"/>
    <dynamics damping="0.1" friction="0.0"/>
  </joint>
  <link name="r2/left_little_distal">
    <inertial>
      <mass value=".0010"/>
      <inertia ixx=".0010" ixy="0.0" ixz="0.0" iyy=".0010" iyz="0.0" izz=".0010"/>
    </inertial>
    <visual>
      <geometry>
        <mesh filename="package://r2_description/meshes/Finger_Dist.dae"/>
      </geometry>
      <origin rpy="0 -1.57 0" xyz="0.0 0.0 0.0"/>
    </visual>
    <collision>
      <geometry>
        <mesh filename="package://r2_description/meshes/Finger_Dist.dae"/>
      </geometry>
      <origin rpy="0 -1.57 0" xyz="0.0 0.0 0.0"/>
    </collision>
  </link>
  <joint name="r2/fixed/left_little_distal/left_little_tip" type="fixed">
    <parent link="r2/left_little_distal"/>
    <child link="r2/left_little_tip"/>
    <origin rpy=" 0.0 -0.0 0.0 " xyz=" 0.024638 0.0 0.0 "/>
  </joint>
  <link name="r2/left_little_tip">
    <inertial>
      <mass value=".0010"/>
      <inertia ixx=".0010" ixy="0.0" ixz="0.0" iyy=".0010" iyz="0.0" izz=".0010"/>
    </inertial>
  </link>
  <joint name="r2/right_arm/joint0" type="revolute">
    <parent link="r2/chest_base"/>
    <child link="r2/right_shoulder_roll"/>
    <origin rpy=" -1.5596 -0.0 -0.26157" xyz=" 0.0 -0.0 0.0"/>
    <axis xyz="0 0 1"/>
    <dynamics damping="10.0" friction="0.0"/>
    <limit effort="100.0" lower="-1.57" upper="1.57" velocity="1000"/>
  </joint>
  <link name="r2/right_shoulder_roll">
    <visual>
      <geometry>
        <mesh filename="package://r2_description/meshes/Right_Shoulder_Upper.dae"/>
      </geometry>
      <material name="dirty_white"/>
      <origin rpy="0 0 2.25" xyz="0 0 .0254"/>
    </visual>
    <!-- <collision>
      <geometry>
        <mesh filename="package://r2_description/meshes/Right_Shoulder_Upper.dae"/>
      </geometry>
      <origin rpy="0 0 2.35" xyz="0 0 .0254"/>
    </collision> -->
    <inertial>
      <origin xyz="0.0089916 -0.00131572  0.10287"/>
      <mass value="6.168856232"/>
      <inertia ixx="0.0198585269" ixy="0.0060195977" ixz="0.0003950635" iyy="0.0671900643" iyz="0.00012683" izz="0.0634150128"/>
    </inertial>
  </link>
  <joint name="r2/right_arm/joint1" type="revolute">
    <parent link="r2/right_shoulder_roll"/>
    <child link="r2/right_shoulder_pitch"/>
    <origin rpy=" 1.5637 -0.0 -1.570796" xyz=" 0.0 -0.0 0.320929"/>
    <axis xyz="0 0 1"/>
    <dynamics damping="10.0" friction="0.0"/>
    <limit effort="100.0" lower="-1.66" upper=".175" velocity="1000"/>
  </joint>
  <link name="r2/right_shoulder_pitch">
    <visual>
      <geometry>
        <mesh filename="package://r2_description/meshes/Right_Shoulder_Lower.dae"/>
      </geometry>
      <material name="dirty_white"/>
      <origin rpy=".0 0 1.57" xyz="0 0 0"/>
    </visual>
    <!--   <collision>
      <geometry>
        <mesh filename="package://r2_description/meshes/Right_Shoulder_Lower.dae"/>
      </geometry>
      <origin rpy=".0 0 1.57" xyz="0 0 0"/>
    </collision> -->
    <inertial>
      <origin xyz="0.0077978 0.037084 0.00028448"/>
      <mass value="4.4270615312"/>
      <inertia ixx="0.0113836825" ixy="-.0000217138622526" ixz="-.001512947" iyy="0.0251962741" iyz="-0.000052382497887" izz="0.02701064"/>
    </inertial>
  </link>
  <joint name="r2/right_arm/joint2" type="revolute">
    <parent link="r2/right_shoulder_pitch"/>
    <child link="r2/right_upper_arm"/>
    <origin rpy=" -1.5679 -0.0 0.0" xyz=" 0.0 0.0 0.0"/>
    <axis xyz="0 0 1"/>
    <dynamics damping="10.0" friction="0.0"/>
    <limit effort="100.0" lower="0.785" upper="4.89" velocity="1000"/>
  </joint>
  <link name="r2/right_upper_arm">
    <visual>
      <geometry>
        <mesh filename="package://r2_description/meshes/Right_Upper_Arm.dae"/>
      </geometry>
      <material name="dirty_white"/>
      <origin rpy="0 0 0" xyz="0 0 .1016"/>
    </visual>
    <collision>
      <geometry>
        <mesh filename="package://r2_description/meshes/Right_Upper_Arm.dae"/>
      </geometry>
      <origin rpy="0 0 0" xyz="0 0 .1016"/>
    </collision>
    <inertial>
      <origin xyz="0.041402  -0.0074168  0.1016"/>
      <mass value="4.853438359"/>
      <inertia ixx="0.04214011" ixy="-0.0013754064" ixz="-0.0065843922" iyy="0.0462370652" iyz="-0.00339462" izz="0.016007389"/>
    </inertial>
  </link>
  <joint name="r2/right_arm/joint3" type="revolute">
    <parent link="r2/right_upper_arm"/>
    <child link="r2/right_elbow"/>
    <origin rpy=" 1.5684 -0.0 0.0" xyz=" 0.0536067 0.0 0.355219"/>
    <axis xyz="0 0 1"/>
    <dynamics damping="1.0" friction="0.0"/>
    <limit effort="100.0" lower="-2.79" upper="-.087" velocity="1000"/>
  </joint>
  <link name="r2/right_elbow">
    <visual>
      <geometry>
        <mesh filename="package://r2_description/meshes/Right_Elbow.dae"/>
      </geometry>
      <material name="dirty_white"/>
      <origin rpy="0 0 1.57" xyz="0 0 0"/>
    </visual>
    <collision>
      <geometry>
        <mesh filename="package://r2_description/meshes/Right_Elbow.dae"/>
      </geometry>
      <origin rpy="0 0 1.57" xyz="0 0 0"/>
    </collision>
    <inertial>
      <origin xyz=" -0.026162  0.033782 0.0154432"/>
      <mass value="2.9710300235"/>
      <inertia ixx="0.0120274897" ixy="-0.001188117" ixz="0.0016417085" iyy="0.0088377175" iyz="-0.0031605083" izz="0.0105350275"/>
    </inertial>
  </link>
  <joint name="r2/right_arm/joint4" type="revolute">
    <parent link="r2/right_elbow"/>
    <child link="r2/right_lower_arm"/>
    <origin rpy=" -1.5656 -0.0 0.0" xyz=" -0.0537464 -0.0 0.0"/>
    <axis xyz="0 0 1"/>
    <dynamics damping="1.0" friction="0.0"/>
    <limit effort="100.0" lower="-4.45" upper="1.31" velocity="1000"/>
  </joint>
  <link name="r2/right_lower_arm">
    <visual>
      <geometry>
        <mesh filename="package://r2_description/meshes/Right_Forearm.dae"/>
      </geometry>
      <material name="dirty_white"/>
      <origin xyz="0 0 0.1"/>
    </visual>
    <collision>
      <geometry>
        <mesh filename="package://r2_description/meshes/Right_Forearm.dae"/>
      </geometry>
      <origin xyz="0 0 0.1"/>
    </collision>
    <inertial>
      <origin xyz="0.0003556 -0.00122682 0.17653"/>
      <mass value="6.939963261"/>
      <inertia ixx="0.0125249771" ixy="0.0002446467" ixz="0.0005208986" iyy="0.0395063532" iyz="0.0001691457" izz="0.0403842721"/>
    </inertial>
  </link>
  <joint name="r2/right_arm/joint5" type="revolute">
    <parent link="r2/right_lower_arm"/>
    <child link="r2/right_wrist_pitch"/>
    <origin rpy=" 1.5329 -0.0 0.0" xyz=" 0.0 0.0 0.3569462"/>
    <axis xyz="0 0 1"/>
    <dynamics damping="1.0" friction="0.0"/>
    <limit effort="100.0" lower="-1.22" upper="1.22" velocity="1000"/>
  </joint>
  <link name="r2/right_wrist_pitch">
    <inertial>
      <origin xyz="0.00092202 -0.004064 0.000000152908"/>
      <mass value="0.1165732391"/>
      <inertia ixx="0.1" ixy="0.0" ixz="0.0" iyy="0.1" iyz="0.0" izz="0.1"/>
    </inertial>
  </link>
  <joint name="r2/right_arm/joint6" type="revolute">
    <parent link="r2/right_wrist_pitch"/>
    <child link="r2/right_wrist_yaw"/>
    <origin rpy=" 1.5612 -0.0 1.5923" xyz=" -0.000139607 0.006491247 0.0"/>
    <axis xyz="0 0 1"/>
    <dynamics damping="1.0" friction="0.0"/>
    <limit effort="100.0" lower="-0.785" upper="0.785" velocity="1000"/>
  </joint>
  <link name="r2/right_wrist_yaw">
    <inertial>
      <origin xyz="0.067564 0.00090932 0.0253746"/>
      <mass value="0.1"/>
      <inertia ixx="0.1" ixy="0.0" ixz="0.0" iyy="0.1" iyz="0.0" izz="0.1"/>
    </inertial>
  </link>
  <joint name="r2/fixed/right_wrist_yaw/right_palm" type="fixed">
    <parent link="r2/right_wrist_yaw"/>
    <child link="r2/right_palm"/>
    <origin rpy=" 0.0 -0.0 0.0299" xyz=" 0.0 0.0 0.0"/>
  </joint>
  <link name="r2/right_palm">
    <visual>
      <geometry>
        <mesh filename="package://r2_description/meshes/Right_Palm.dae"/>
      </geometry>
      <origin rpy="3.14 0 1.57" xyz="0.0 0.0 -0.0"/>
    </visual>
    <collision>
      <geometry>
        <mesh filename="package://r2_description/meshes/Right_Palm.dae"/>
      </geometry>
      <origin rpy="3.14 0 1.57" xyz="0.0 0.0 -0.0"/>
    </collision>
    <inertial>
      <mass value="1.1"/>
      <inertia ixx="0.1" ixy="0.0" ixz="0.0" iyy="0.1" iyz="0.0" izz="0.1"/>
    </inertial>
  </link>
  <joint name="r2/right_arm/hand/thumb/joint0" type="revolute">
    <parent link="r2/right_wrist_yaw"/>
    <child link="r2/right_thumb_base"/>
    <origin rpy=" 1.57079632679 0.174532791018 -1.30899687745 " xyz="0.03302 -0.03048 0.00635 "/>
    <axis xyz="0 0 1"/>
    <limit effort="10000000.0" lower="0.0" upper="1.2217" velocity="1000"/>
    <dynamics damping="0.1" friction="0.0"/>
  </joint>
  <joint name="r2/fixed/right_index_base/right_index_base" type="fixed">
    <parent link="r2/right_wrist_yaw"/>
    <child link="r2/right_index_base"/>
    <origin rpy=" 0.0 -0.0 -0.122172725275  " xyz=" 0.0994646728 -0.0271119346 -0.0161544 "/>
  </joint>
  <joint name="r2/right_arm/hand/index/joint0" type="revolute">
    <parent link="r2/right_index_base"/>
    <child link="r2/right_index_yaw"/>
    <origin rpy="0.0 0.0 0.0" xyz="0.0 0.0 0.0"/>
    <axis xyz="0 0 1"/>
    <limit effort="10000000.0" lower="-0.3491" upper="0.3491" velocity="1000"/>
    <dynamics damping="0.1" friction="0.0"/>
  </joint>
  <joint name="r2/fixed/right_middle_base/right_middle_base" type="fixed">
    <parent link="r2/right_wrist_yaw"/>
    <child link="r2/right_middle_base"/>
    <origin rpy=" 0.0 -0.0 0.0 " xyz="0.10646537 -0.00254 -0.0161544 "/>
  </joint>
  <joint name="r2/right_arm/hand/middle/joint0" type="revolute">
    <parent link="r2/right_middle_base"/>
    <child link="r2/right_middle_yaw"/>
    <origin rpy="0.0 0.0 0.0" xyz="0.0 0.0 0.0"/>
    <axis xyz="0 0 1"/>
    <limit effort="10000000.0" lower="-0.3491" upper="0.3491" velocity="1000"/>
    <dynamics damping="0.1" friction="0.0"/>
  </joint>
  <joint name="r2/right_arm/hand/ring/joint0" type="revolute">
    <parent link="r2/right_wrist_yaw"/>
    <child link="r2/right_ring_proximal"/>
    <origin rpy=" 1.57079632679 -0.0 0.122172725275  " xyz=" 0.1084539614 0.019792569 -0.012319 "/>
    <axis xyz="0 0 1"/>
    <limit effort="10000000.0" lower="0" upper="2.9671" velocity="1000"/>
    <dynamics damping="0.1" friction="0.0"/>
  </joint>
  <joint name="r2/right_arm/hand/little/joint0" type="revolute">
    <parent link="r2/right_wrist_yaw"/>
    <child link="r2/right_little_proximal"/>
    <origin rpy=" 1.53588943985 -0.0872667473393 0.17453258148  " xyz=" 0.094635701 0.0403792436 -0.0060878212 "/>
    <axis xyz="0 0 1"/>
    <limit effort="10000000.0" lower="0" upper="2.9671" velocity="1000"/>
    <dynamics damping="0.1" friction="0.0"/>
  </joint>
  <link name="r2/right_thumb_base">
    <inertial>
      <mass value=".05"/>
      <inertia ixx=".0010" ixy="0.0" ixz="0.0" iyy=".0010" iyz="0.0" izz=".0010"/>
    </inertial>
  </link>
  <joint name="r2/fixed/right_thumb_base/right_thumb_proximal" type="fixed">
    <parent link="r2/right_thumb_base"/>
    <child link="r2/right_thumb_proximal"/>
    <origin rpy=" -1.570796 -0.0 0.0 " xyz=" 0.011938 0.0 0.0 "/>
  </joint>
  <link name="r2/right_thumb_proximal">
    <inertial>
      <mass value=".05"/>
      <inertia ixx=".0010" ixy="0.0" ixz="0.0" iyy=".0010" iyz="0.0" izz=".0010"/>
    </inertial>
    <visual>
      <geometry>
        <mesh filename="package://r2_description/meshes/Left_Thumb_Carp.dae"/>
      </geometry>
      <origin rpy="-1.57 0 0" xyz="-0.01 0.0 0.0"/>
    </visual>
    <collision>
      <geometry>
        <mesh filename="package://r2_description/meshes/Left_Thumb_Carp.dae" scale="0.9 0.9 0.9"/>
      </geometry>
      <origin rpy="-1.57 0 0" xyz="-0.01 0.0 0.0"/>
    </collision>
  </link>
  <joint name="r2/right_arm/hand/thumb/joint1" type="revolute">
    <parent link="r2/right_thumb_proximal"/>
    <child link="r2/right_thumb_medial_prime"/>
    <origin rpy=" 0.0 -0.0 0.0 " xyz=" 0.0 0.0 0.0 "/>
    <axis xyz="0 0 1"/>
    <limit effort="10000000.0" lower="0.0" upper="1.3963" velocity="1000"/>
    <dynamics damping="0.1" friction="0.0"/>
  </joint>
  <link name="r2/right_thumb_medial_prime">
    <inertial>
      <mass value=".05"/>
      <inertia ixx=".0010" ixy="0.0" ixz="0.0" iyy=".0010" iyz="0.0" izz=".0010"/>
    </inertial>
    <visual>
      <geometry>
        <mesh filename="package://r2_description/meshes/Right_Thumb_MtCar.dae"/>
      </geometry>
      <origin rpy="-1.57 -1.57 0 " xyz="-0.0 0 0.0"/>
    </visual>
    <collision>
      <geometry>
        <mesh filename="package://r2_description/meshes/Right_Thumb_MtCar.dae" scale="0.9 0.9 0.9"/>
      </geometry>
      <origin rpy="-1.57 -1.57 0 " xyz="-0.0 0 0.0"/>
    </collision>
  </link>
  <joint name="r2/right_arm/hand/thumb/joint2" type="revolute">
    <parent link="r2/right_thumb_medial_prime"/>
    <child link="r2/right_thumb_medial"/>
    <origin rpy=" 0.698132284627 -0.0 0.0 " xyz=" 0.030734 -0.001905 -0.00254 "/>
    <axis xyz="0 0 1"/>
    <limit effort="10000000.0" lower="0.0" upper="1.2217" velocity="1000"/>
    <dynamics damping="0.1" friction="0.0"/>
  </joint>
  <link name="r2/right_thumb_medial">
    <inertial>
      <mass value=".05"/>
      <inertia ixx=".0010" ixy="0.0" ixz="0.0" iyy=".0010" iyz="0.0" izz=".0010"/>
    </inertial>
    <visual>
      <geometry>
        <mesh filename="package://r2_description/meshes/Thumb_Proximal.dae"/>
      </geometry>
      <origin rpy="3.14 0 1.57" xyz="0.0 0.0 0.0"/>
    </visual>
    <collision>
      <geometry>
        <mesh filename="package://r2_description/meshes/Thumb_Proximal.dae"/>
      </geometry>
      <origin rpy="3.14 0 1.57" xyz="0.0 0.0 0.0"/>
    </collision>
  </link>
  <joint name="r2/right_arm/hand/thumb/joint3" type="revolute">
    <parent link="r2/right_thumb_medial"/>
    <child link="r2/right_thumb_distal"/>
    <origin rpy=" 0.0 -0.0 0.0 " xyz=" 0.03937 0.0 0.0 "/>
    <axis xyz="0 0 1"/>
    <limit effort="10000000.0" lower="-0.5236" upper="1.57" velocity="1000"/>
    <dynamics damping="0.1" friction="0.0"/>
  </joint>
  <link name="r2/right_thumb_distal">
    <inertial>
      <mass value=".05"/>
      <inertia ixx=".0010" ixy="0.0" ixz="0.0" iyy=".0010" iyz="0.0" izz=".0010"/>
    </inertial>
    <visual>
      <geometry>
        <mesh filename="package://r2_description/meshes/Thumb_Dist.dae"/>
      </geometry>
      <origin rpy="3.14 3.14 0" xyz="0.0 0.0 0.0"/>
    </visual>
    <collision>
      <geometry>
        <mesh filename="package://r2_description/meshes/Thumb_Dist.dae"/>
      </geometry>
      <origin rpy="3.14 3.14 0" xyz="0.0 0.0 0.0"/>
    </collision>
  </link>
  <joint name="r2/fixed/right_thumb_distal/right_thumb_tip" type="fixed">
    <parent link="r2/right_thumb_distal"/>
    <child link="r2/right_thumb_tip"/>
    <origin rpy=" 0.0 -0.0 0.0 " xyz=" 0.03302 0.0 0.0 "/>
  </joint>
  <link name="r2/right_thumb_tip">
    <inertial>
      <mass value=".05"/>
      <inertia ixx=".0010" ixy="0.0" ixz="0.0" iyy=".0010" iyz="0.0" izz=".0010"/>
    </inertial>
  </link>
  <link name="r2/right_index_base">
    <inertial>
      <mass value=".05"/>
      <inertia ixx=".0010" ixy="0.0" ixz="0.0" iyy=".0010" iyz="0.0" izz=".0010"/>
    </inertial>
  </link>
  <link name="r2/right_index_yaw">
    <inertial>
      <mass value=".05"/>
      <inertia ixx=".0010" ixy="0.0" ixz="0.0" iyy=".0010" iyz="0.0" izz=".0010"/>
    </inertial>
  </link>
  <joint name="r2/right_arm/hand/index/joint1" type="revolute">
    <parent link="r2/right_index_yaw"/>
    <child link="r2/right_index_proximal"/>
    <origin rpy=" 1.570796 -0.0 0.0 " xyz=" 0.009652 0.0 0.0 "/>
    <axis xyz="0 0 1"/>
    <limit effort="10000000.0" lower="0.0" upper="1.57" velocity="1000"/>
    <dynamics damping="0.1" friction="0.0"/>
  </joint>
  <link name="r2/right_index_proximal">
    <inertial>
      <mass value=".05"/>
      <inertia ixx=".0010" ixy="0.0" ixz="0.0" iyy=".0010" iyz="0.0" izz=".0010"/>
    </inertial>
    <visual>
      <geometry>
        <mesh filename="package://r2_description/meshes/Finger_Proximal.dae"/>
      </geometry>
      <origin rpy="0 0 1.57" xyz="0.0 0.0 0.0"/>
    </visual>
    <collision>
      <geometry>
        <mesh filename="package://r2_description/meshes/Finger_Proximal.dae"/>
      </geometry>
      <origin rpy="0 0 1.57" xyz="0.0 0.0 0.0"/>
    </collision>
  </link>
  <joint name="r2/right_arm/hand/index/joint2" type="revolute">
    <parent link="r2/right_index_proximal"/>
    <child link="r2/right_index_medial"/>
    <origin rpy=" 0.0 -0.0 0.0 " xyz=" 0.04445 0.0 0.0 "/>
    <axis xyz="0 0 1"/>
    <limit effort="10000000.0" lower="0.0" upper="1.57" velocity="1000"/>
    <dynamics damping="0.1" friction="0.0"/>
  </joint>
  <link name="r2/right_index_medial">
    <inertial>
      <mass value=".05"/>
      <inertia ixx=".0010" ixy="0.0" ixz="0.0" iyy=".0010" iyz="0.0" izz=".0010"/>
    </inertial>
    <visual>
      <geometry>
        <mesh filename="package://r2_description/meshes/Finger_Mid.dae"/>
      </geometry>
      <origin rpy="3.14 0 1.57" xyz="0.0 0.0 0.0"/>
    </visual>
    <collision>
      <geometry>
        <mesh filename="package://r2_description/meshes/Finger_Mid.dae"/>
      </geometry>
      <origin rpy="3.14 0 1.57" xyz="0.0 0.0 0.0"/>
    </collision>
  </link>
  <joint name="r2/right_arm/hand/index/joint3" type="revolute">
    <parent link="r2/right_index_medial"/>
    <child link="r2/right_index_distal"/>
    <origin rpy=" 0.0 -0.0 0.0 " xyz=" 0.03048 0.0 0.0 "/>
    <axis xyz="0 0 1"/>
    <limit effort="10000000.0" lower="0.0" upper="1.57" velocity="1000"/>
    <dynamics damping="0.1" friction="0.0"/>
  </joint>
  <link name="r2/right_index_distal">
    <inertial>
      <mass value=".05"/>
      <inertia ixx=".0010" ixy="0.0" ixz="0.0" iyy=".0010" iyz="0.0" izz=".0010"/>
    </inertial>
    <visual>
      <geometry>
        <mesh filename="package://r2_description/meshes/Finger_Dist.dae"/>
      </geometry>
      <origin rpy="0 -1.57 0" xyz="0.0 0.0 0.0"/>
    </visual>
    <collision>
      <geometry>
        <mesh filename="package://r2_description/meshes/Finger_Dist.dae"/>
      </geometry>
      <origin rpy="0 -1.57 0" xyz="0.0 0.0 0.0"/>
    </collision>
  </link>
  <joint name="r2/fixed/right_index_distal/right_index_tip" type="fixed">
    <parent link="r2/right_index_distal"/>
    <child link="r2/right_index_tip"/>
    <origin rpy=" 0.0 -0.0 0.0 " xyz=" 0.024638 0.0 0.0 "/>
  </joint>
  <link name="r2/right_index_tip">
    <inertial>
      <mass value=".05"/>
      <inertia ixx=".0010" ixy="0.0" ixz="0.0" iyy=".0010" iyz="0.0" izz=".0010"/>
    </inertial>
  </link>
  <link name="r2/right_middle_base">
    <inertial>
      <mass value=".0010"/>
      <inertia ixx=".0010" ixy="0.0" ixz="0.0" iyy=".0010" iyz="0.0" izz=".0010"/>
    </inertial>
  </link>
  <link name="r2/right_middle_yaw">
    <inertial>
      <mass value=".0010"/>
      <inertia ixx=".0010" ixy="0.0" ixz="0.0" iyy=".0010" iyz="0.0" izz=".0010"/>
    </inertial>
  </link>
  <joint name="r2/right_arm/hand/middle/joint1" type="revolute">
    <parent link="r2/right_middle_yaw"/>
    <child link="r2/right_middle_proximal"/>
    <origin rpy=" 1.570796 -0.0 0.0 " xyz=" 0.009652 0.0 0.0 "/>
    <axis xyz="0 0 1"/>
    <limit effort="10000000.0" lower="0.0" upper="1.57" velocity="1000"/>
    <dynamics damping="0.1" friction="0.0"/>
  </joint>
  <link name="r2/right_middle_proximal">
    <inertial>
      <mass value=".05"/>
      <inertia ixx=".0010" ixy="0.0" ixz="0.0" iyy=".0010" iyz="0.0" izz=".0010"/>
    </inertial>
    <visual>
      <geometry>
        <mesh filename="package://r2_description/meshes/Finger_Proximal.dae"/>
      </geometry>
      <origin rpy="0 0 1.57" xyz="0.0 0.0 0.0"/>
    </visual>
    <collision>
      <geometry>
        <mesh filename="package://r2_description/meshes/Finger_Proximal.dae" scale="0.9 0.9 0.9"/>
      </geometry>
      <origin rpy="0 0 1.57" xyz="0.0 0.0 0.0"/>
    </collision>
  </link>
  <joint name="r2/right_arm/hand/middle/joint2" type="revolute">
    <parent link="r2/right_middle_proximal"/>
    <child link="r2/right_middle_medial"/>
    <origin rpy=" 0.0 -0.0 0.0 " xyz=" 0.04445 0.0 0.0 "/>
    <axis xyz="0 0 1"/>
    <limit effort="10000000.0" lower="0.0" upper="1.57" velocity="1000"/>
    <dynamics damping="0.1" friction="0.0"/>
  </joint>
  <link name="r2/right_middle_medial">
    <inertial>
      <mass value=".05"/>
      <inertia ixx=".0010" ixy="0.0" ixz="0.0" iyy=".0010" iyz="0.0" izz=".0010"/>
    </inertial>
    <visual>
      <geometry>
        <mesh filename="package://r2_description/meshes/Finger_Mid.dae"/>
      </geometry>
      <origin rpy="3.14 0 1.57" xyz="0.0 0.0 0.0"/>
    </visual>
    <collision>
      <geometry>
        <mesh filename="package://r2_description/meshes/Finger_Mid.dae" scale="0.9 0.9 0.9"/>
      </geometry>
      <origin rpy="3.14 0 1.57" xyz="0.0 0.0 0.0"/>
    </collision>
  </link>
  <joint name="r2/right_arm/hand/middle/joint3" type="revolute">
    <parent link="r2/right_middle_medial"/>
    <child link="r2/right_middle_distal"/>
    <origin rpy=" 0.0 -0.0 0.0 " xyz=" 0.03048 0.0 0.0 "/>
    <axis xyz="0 0 1"/>
    <limit effort="10000000.0" lower="0.0" upper="1.57" velocity="1000"/>
    <dynamics damping="0.1" friction="0.0"/>
  </joint>
  <link name="r2/right_middle_distal">
    <inertial>
      <mass value=".05"/>
      <inertia ixx=".0010" ixy="0.0" ixz="0.0" iyy=".0010" iyz="0.0" izz=".0010"/>
    </inertial>
    <visual>
      <geometry>
        <mesh filename="package://r2_description/meshes/Finger_Dist.dae"/>
      </geometry>
      <origin rpy="0 -1.57 0" xyz="0.0 0.0 0.0"/>
    </visual>
    <collision>
      <geometry>
        <mesh filename="package://r2_description/meshes/Finger_Dist.dae" scale="0.9 0.9 0.9"/>
      </geometry>
      <origin rpy="0 -1.57 0" xyz="0.0 0.0 0.0"/>
    </collision>
  </link>
  <joint name="r2/fixed/right_middle_distal/right_middle_tip" type="fixed">
    <parent link="r2/right_middle_distal"/>
    <child link="r2/right_middle_tip"/>
    <origin rpy=" 0.0 -0.0 0.0 " xyz=" 0.024638 0.0 0.0 "/>
  </joint>
  <link name="r2/right_middle_tip">
    <inertial>
      <mass value=".05"/>
      <inertia ixx=".0010" ixy="0.0" ixz="0.0" iyy=".0010" iyz="0.0" izz=".0010"/>
    </inertial>
  </link>
  <link name="r2/right_ring_proximal">
    <inertial>
      <mass value=".05"/>
      <inertia ixx=".0010" ixy="0.0" ixz="0.0" iyy=".0010" iyz="0.0" izz=".0010"/>
    </inertial>
    <visual>
      <geometry>
        <mesh filename="package://r2_description/meshes/Finger_Proximal.dae"/>
      </geometry>
      <origin rpy="0 0 1.57" xyz="0.0 0.0 0.0"/>
    </visual>
    <collision>
      <geometry>
        <mesh filename="package://r2_description/meshes/Finger_Proximal.dae" scale="0.9 0.9 0.9"/>
      </geometry>
      <origin rpy="0 0 1.57" xyz="0.0 0.0 0.0"/>
    </collision>
  </link>
  <joint name="r2/right_arm/hand/ring/joint1" type="revolute">
    <parent link="r2/right_ring_proximal"/>
    <child link="r2/right_ring_medial"/>
    <origin rpy=" 0.0 -0.0 0.0 " xyz=" 0.04445 0.0 0.0 "/>
    <axis xyz="0 0 1"/>
    <limit effort="10000000.0" lower="0" upper="2.9671" velocity="1000"/>
    <dynamics damping="0.1" friction="0.0"/>
  </joint>
  <link name="r2/right_ring_medial">
    <inertial>
      <mass value=".05"/>
      <inertia ixx=".0010" ixy="0.0" ixz="0.0" iyy=".0010" iyz="0.0" izz=".0010"/>
    </inertial>
    <visual>
      <geometry>
        <mesh filename="package://r2_description/meshes/Finger_Mid.dae"/>
      </geometry>
      <origin rpy="3.14 0 1.57" xyz="0.0 0.0 0.0"/>
    </visual>
    <collision>
      <geometry>
        <mesh filename="package://r2_description/meshes/Finger_Mid.dae" scale="0.9 0.9 0.9"/>
      </geometry>
      <origin rpy="3.14 0 1.57" xyz="0.0 0.0 0.0"/>
    </collision>
  </link>
  <joint name="r2/right_arm/hand/ring/joint2" type="revolute">
    <parent link="r2/right_ring_medial"/>
    <child link="r2/right_ring_distal"/>
    <origin rpy=" 0.0 -0.0 0.0 " xyz=" 0.03048 0.0 0.0 "/>
    <axis xyz="0 0 1"/>
    <limit effort="10000000.0" lower="0" upper="2.9671" velocity="1000"/>
    <dynamics damping="0.1" friction="0.0"/>
  </joint>
  <link name="r2/right_ring_distal">
    <inertial>
      <mass value=".05"/>
      <inertia ixx=".0010" ixy="0.0" ixz="0.0" iyy=".0010" iyz="0.0" izz=".0010"/>
    </inertial>
    <visual>
      <geometry>
        <mesh filename="package://r2_description/meshes/Finger_Dist.dae"/>
      </geometry>
      <origin rpy="0 -1.57 0" xyz="0.0 0.0 0.0"/>
    </visual>
    <collision>
      <geometry>
        <mesh filename="package://r2_description/meshes/Finger_Dist.dae" scale="0.9 0.9 0.9"/>
      </geometry>
      <origin rpy="0 -1.57 0" xyz="0.0 0.0 0.0"/>
    </collision>
  </link>
  <joint name="r2/fixed/right_ring_distal/right_ring_tip" type="fixed">
    <parent link="r2/right_ring_distal"/>
    <child link="r2/right_ring_tip"/>
    <origin rpy=" 0.0 -0.0 0.0 " xyz=" 0.024638 0.0 0.0 "/>
  </joint>
  <link name="r2/right_ring_tip">
    <inertial>
      <mass value=".05"/>
      <inertia ixx=".0010" ixy="0.0" ixz="0.0" iyy=".0010" iyz="0.0" izz=".0010"/>
    </inertial>
  </link>
  <link name="r2/right_little_proximal">
    <inertial>
      <mass value=".05"/>
      <inertia ixx=".0010" ixy="0.0" ixz="0.0" iyy=".0010" iyz="0.0" izz=".0010"/>
    </inertial>
    <visual>
      <geometry>
        <mesh filename="package://r2_description/meshes/Finger_Proximal.dae"/>
      </geometry>
      <origin rpy="0 0 1.57" xyz="0.0 0.0 0.0"/>
    </visual>
    <collision>
      <geometry>
        <mesh filename="package://r2_description/meshes/Finger_Proximal.dae" scale="0.9 0.9 0.9"/>
      </geometry>
      <origin rpy="0 0 1.57" xyz="0.0 0.0 0.0"/>
    </collision>
  </link>
  <joint name="r2/right_arm/hand/little/joint1" type="revolute">
    <parent link="r2/right_little_proximal"/>
    <child link="r2/right_little_medial"/>
    <origin rpy=" 0.0 -0.0 0.0 " xyz=" 0.04445 0.0 0.0 "/>
    <axis xyz="0 0 1"/>
    <limit effort="10000000.0" lower="0" upper="2.9671" velocity="1000"/>
    <dynamics damping="0.1" friction="0.0"/>
  </joint>
  <link name="r2/right_little_medial">
    <inertial>
      <mass value=".05"/>
      <inertia ixx=".0010" ixy="0.0" ixz="0.0" iyy=".0010" iyz="0.0" izz=".0010"/>
    </inertial>
    <visual>
      <geometry>
        <mesh filename="package://r2_description/meshes/Finger_Mid.dae"/>
      </geometry>
      <origin rpy="3.14 0 1.57" xyz="0.0 0.0 0.0"/>
    </visual>
    <collision>
      <geometry>
        <mesh filename="package://r2_description/meshes/Finger_Mid.dae" scale="0.9 0.9 0.9"/>
      </geometry>
      <origin rpy="3.14 0 1.57" xyz="0.0 0.0 0.0"/>
    </collision>
  </link>
  <joint name="r2/right_arm/hand/little/joint2" type="revolute">
    <parent link="r2/right_little_medial"/>
    <child link="r2/right_little_distal"/>
    <origin rpy=" 0.0 -0.0 0.0 " xyz=" 0.03048 0.0 0.0 "/>
    <axis xyz="0 0 1"/>
    <limit effort="10000000.0" lower="0" upper="2.9671" velocity="1000"/>
    <dynamics damping="0.1" friction="0.0"/>
  </joint>
  <link name="r2/right_little_distal">
    <inertial>
      <mass value=".05"/>
      <inertia ixx=".0010" ixy="0.0" ixz="0.0" iyy=".0010" iyz="0.0" izz=".0010"/>
    </inertial>
    <visual>
      <geometry>
        <mesh filename="package://r2_description/meshes/Finger_Dist.dae"/>
      </geometry>
      <origin rpy="0 -1.57 0" xyz="0.0 0.0 0.0"/>
    </visual>
    <collision>
      <geometry>
        <mesh filename="package://r2_description/meshes/Finger_Dist.dae" scale="0.9 0.9 0.9"/>
      </geometry>
      <origin rpy="0 -1.57 0" xyz="0.0 0.0 0.0"/>
    </collision>
  </link>
  <joint name="r2/fixed/right_little_distal/right_little_tip" type="fixed">
    <parent link="r2/right_little_distal"/>
    <child link="r2/right_little_tip"/>
    <origin rpy=" 0.0 -0.0 0.0 " xyz=" 0.024638 0.0 0.0 "/>
  </joint>
  <link name="r2/right_little_tip">
    <inertial>
      <mass value=".05"/>
      <inertia ixx=".0010" ixy="0.0" ixz="0.0" iyy=".0010" iyz="0.0" izz=".0010"/>
    </inertial>
  </link>
  <link name="r2/pelvis">
    <inertial>
      <mass value="13.16272"/>
      <inertia ixx="0.11949" ixy="-0.00024" ixz="0.00000" iyy="0.07163" iyz="0.00000" izz="0.11047"/>
    </inertial>
    <visual>
      <geometry>
        <mesh filename="package://r2_description/meshes/r2_legs/r2cl_ext_pelvis.dae"/>
      </geometry>
      <material name="gold"/>
      <origin rpy="0 0 0" xyz="0 0 0"/>
    </visual>
    <collision>
      <geometry>
        <mesh filename="package://r2_description/meshes/r2_legs/r2cl_ext_pelvis.dae"/>
      </geometry>
      <origin rpy="0 0 0" xyz="0 0 0"/>
    </collision>
  </link>
  <joint name="r2/fixed/leg_stand_connection/pelvis" type="fixed">
    <parent link="r2/leg_stand_connection"/>
    <child link="r2/pelvis"/>
    <origin rpy="0 0 0" xyz="0 0 -0.098"/>
  </joint>
  <joint name="r2/fixed/pelvis/left_leg_base" type="fixed">
    <parent link="r2/pelvis"/>
    <child link="r2/left_leg_base"/>
    <origin rpy="0 0.000000 1.570796" xyz="0.0 0 0.0"/>
  </joint>
  <link name="r2/left_leg_base">
    <inertial>
      <mass value="3.2"/>
      <inertia ixx="1.0" ixy="0.0" ixz="0.0" iyy="1.0" iyz="0.0" izz="1.0"/>
    </inertial>
    <visual>
      <geometry>
        <cylinder length=".11" radius=".05"/>
      </geometry>
      <origin rpy="0 -1.82 0" xyz="-0.055 0.0 -.015 "/>
    </visual>
    <collision>
      <geometry>
        <cylinder length=".11" radius=".05"/>
      </geometry>
      <origin rpy="0 -1.82 0" xyz="-0.055 0.0 -.015 "/>
    </collision>
  </link>
  <joint name="r2/fixed/left_leg_base/left_leg_j0_base" type="fixed">
    <parent link="r2/left_leg_base"/>
    <child link="r2/left_leg_j0_base"/>
    <origin rpy="0.0 1.8325957 3.14159" xyz="-0.1104900 0.0 -0.0297180"/>
  </joint>
  <link name="r2/left_leg_j0_base">
    <inertial>
      <mass value="0.01"/>
      <inertia ixx="0.0001" ixy="0.0" ixz="0.0" iyy="0.001" iyz="0.0" izz="0.001"/>
    </inertial>
  </link>
  <joint name="r2/left_leg/joint0" type="revolute">
    <parent link="r2/left_leg_j0_base"/>
    <child link="r2/left_hip_roll"/>
    <origin rpy="0.0 0 0" xyz="0 0 0"/>
    <axis xyz="0 0 1"/>
    <dynamics damping="10.0" friction="0.0"/>
    <limit effort="330.0" lower="-4.71239" upper="4.71239" velocity="1.0"/>
    <traits spring_k="2.5"/>
  </joint>
  <link name="r2/left_hip_roll">
    <inertial>
      <mass value="2.33931"/>
      <inertia ixx="0.02547" ixy="0.00297" ixz="-0.00847" iyy="0.02956" iyz="0.00636" izz="0.01148"/>
    </inertial>
    <visual>
      <geometry>
        <mesh filename="package://r2_description/meshes/r2_legs/r2cl_ext_bone3.dae"/>
      </geometry>
      <origin rpy="0 0 0" xyz="0.0 0.0 0.0"/>
    </visual>
    <collision>
      <geometry>
        <mesh filename="package://r2_description/meshes/r2_legs/r2cl_ext_bone3.dae"/>
      </geometry>
      <origin rpy="0 0 0" xyz="0.0 0.0 0.0"/>
    </collision>
  </link>
  <joint name="r2/left_leg/joint1" type="revolute">
    <parent link="r2/left_hip_roll"/>
    <child link="r2/left_hip_pitch"/>
    <origin rpy="-1.570796  -0.2617994 0.0000000" xyz="0.050629765 +0.0022860 0.103498576"/>
    <axis xyz="0 0 1"/>
    <dynamics damping="5.0" friction="0.0"/>
    <limit effort="330.0" lower="-1.483" upper="1.27" velocity="1.0"/>
    <traits spring_k="2.5"/>
  </joint>
  <link name="r2/left_hip_pitch">
    <inertial>
      <mass value="4.78221"/>
      <inertia ixx="0.01671" ixy="0.02240" ixz="-0.00120" iyy="0.07877" iyz="0.00049" izz="0.08739"/>
    </inertial>
    <visual>
      <geometry>
        <mesh filename="package://r2_description/meshes/r2_legs/r2cl_ext_bone1.dae"/>
      </geometry>
      <origin rpy="0 0 0" xyz="0 0 0"/>
    </visual>
    <collision>
      <geometry>
        <mesh filename="package://r2_description/meshes/r2_legs/r2cl_ext_bone1.dae"/>
      </geometry>
      <origin rpy="0 0 0" xyz="0 0 0"/>
    </collision>
  </link>
  <joint name="r2/left_leg/joint2" type="revolute">
    <parent link="r2/left_hip_pitch"/>
    <child link="r2/left_upper_leg"/>
    <origin rpy=" 1.570796 0.0 1.570796" xyz="0.200 -0.050 0.004"/>
    <axis xyz="0 0 1"/>
    <dynamics damping="5.0" friction="0.0"/>
    <limit effort="330.0" lower="-4.71239" upper="4.71239" velocity="1.0"/>
    <traits spring_k="2.5"/>
  </joint>
  <link name="r2/left_upper_leg">
    <inertial>
      <mass value="3.73407"/>
      <inertia ixx="0.05967" ixy="-0.00299" ixz="0.00939" iyy="0.05554" iyz="0.01276" izz="0.01370"/>
    </inertial>
    <visual>
      <geometry>
        <mesh filename="package://r2_description/meshes/r2_legs/r2cl_ext_bone2.dae"/>
      </geometry>
      <origin rpy="0 0 0" xyz="0 0 0"/>
    </visual>
    <collision>
      <geometry>
        <mesh filename="package://r2_description/meshes/r2_legs/r2cl_ext_bone2.dae"/>
      </geometry>
      <origin rpy="0 0 0" xyz="0 0 0"/>
    </collision>
  </link>
  <joint name="r2/left_leg/joint3" type="revolute">
    <parent link="r2/left_upper_leg"/>
    <child link="r2/left_knee"/>
    <origin rpy="0.0 -1.570796 3.14159" xyz="-0.002 -0.050 0.157"/>
    <axis xyz="0 0 1"/>
    <dynamics damping="5.0" friction="0.0"/>
    <limit effort="330.0" lower="-0.0872664" upper="2.6703515" velocity="1.0"/>
    <traits spring_k="2.5"/>
  </joint>
  <link name="r2/left_knee">
    <inertial>
      <mass value="4.78221"/>
      <inertia ixx="0.01671" ixy="0.02240" ixz="-0.00120" iyy="0.07877" iyz="0.00049" izz="0.08739"/>
    </inertial>
    <visual>
      <geometry>
        <mesh filename="package://r2_description/meshes/r2_legs/r2cl_ext_bone1.dae"/>
      </geometry>
      <origin rpy="0 0 0" xyz="0 0 0"/>
    </visual>
    <collision>
      <geometry>
        <mesh filename="package://r2_description/meshes/r2_legs/r2cl_ext_bone1.dae"/>
      </geometry>
      <material name="gold"/>
      <origin rpy="0 0 0" xyz="0 0 0"/>
    </collision>
  </link>
  <joint name="r2/left_leg/joint4" type="revolute">
    <parent link="r2/left_knee"/>
    <child link="r2/left_lower_leg"/>
    <origin rpy="0 1.570796 0" xyz="0.200 -0.050 0.004"/>
    <axis xyz="0 0 1"/>
    <dynamics damping="5.0" friction="0.0"/>
    <limit effort="330.0" lower="-4.71239" upper="4.71239" velocity="1.0"/>
    <traits spring_k="2.5"/>
  </joint>
  <link name="r2/left_lower_leg">
    <inertial>
      <mass value="3.73407"/>
      <inertia ixx="0.05967" ixy="-0.00299" ixz="0.00939" iyy="0.05554" iyz="0.01276" izz="0.01370"/>
    </inertial>
    <visual>
      <geometry>
        <mesh filename="package://r2_description/meshes/r2_legs/r2cl_ext_bone2.dae"/>
      </geometry>
      <origin rpy="0 0 0" xyz="0 0 0"/>
    </visual>
    <collision>
      <geometry>
        <mesh filename="package://r2_description/meshes/r2_legs/r2cl_ext_bone2.dae"/>
      </geometry>
      <origin rpy="0 0 0" xyz="0 0 0"/>
    </collision>
  </link>
  <joint name="r2/left_leg/joint5" type="revolute">
    <parent link="r2/left_lower_leg"/>
    <child link="r2/left_ankle_pitch"/>
    <origin rpy="0.0 -1.570796 3.14159" xyz="-0.002 -0.050 0.157"/>
    <axis xyz="0 0 1"/>
    <dynamics damping="5.0" friction="0.0"/>
    <limit effort="330.0" lower="-0.0872664" upper="2.6703515" velocity="1.0"/>
    <traits spring_k="2.5"/>
  </joint>
  <link name="r2/left_ankle_pitch">
    <inertial>
      <mass value="4.78221"/>
      <inertia ixx="0.01671" ixy="0.02240" ixz="-0.00120" iyy="0.07877" iyz="0.00049" izz="0.08739"/>
    </inertial>
    <visual>
      <geometry>
        <mesh filename="package://r2_description/meshes/r2_legs/r2cl_ext_bone1.dae"/>
      </geometry>
      <origin rpy="0 0 0" xyz="0 0 0"/>
    </visual>
    <collision>
      <geometry>
        <mesh filename="package://r2_description/meshes/r2_legs/r2cl_ext_bone1.dae"/>
      </geometry>
      <origin rpy="0 0 0" xyz="0 0 0"/>
    </collision>
  </link>
  <joint name="r2/left_leg/joint6" type="revolute">
    <parent link="r2/left_ankle_pitch"/>
    <child link="r2/left_ankle_roll"/>
    <origin rpy="3.14159 -1.570796 0" xyz="0.199643 -0.0508 0.00325"/>
    <axis xyz="0 0 1"/>
    <dynamics damping="5.0" friction="0.0"/>
    <limit effort="330.0" lower="-4.71239" upper="4.71239" velocity="1.0"/>
    <traits spring_k="2.5"/>
  </joint>
  <link name="r2/left_ankle_roll">
    <inertial>
      <mass value="1.50471"/>
      <inertia ixx="0.00203" ixy="0.00003" ixz="0.0" iyy="0.00204" iyz="0.0" izz="0.00335"/>
    </inertial>
    <visual>
      <geometry>
        <cylinder length=".06" radius=".066"/>
      </geometry>
      <material name="dirty_white"/>
      <origin rpy="0 0 0" xyz="0 0 0.025"/>
    </visual>
    <collision>
      <geometry>
        <cylinder length=".06" radius=".066"/>
      </geometry>
      <origin rpy="0 0 0" xyz="0 0 0.025"/>
    </collision>
  </link>
  <joint name="r2/fixed/left_ankle_roll/left_leg_foot" type="fixed">
    <parent link="r2/left_ankle_roll"/>
    <child link="r2/left_leg_foot"/>
    <origin rpy="0.0 0 0" xyz="0.0 0.0 0.04953"/>
  </joint>
  <link name="r2/left_leg_foot">
    <inertial>
      <mass value="4.40475"/>
      <inertia ixx="0.04809" ixy="0.00026" ixz="0.00038" iyy="0.04403" iyz="-0.00321" izz="0.0127"/>
    </inertial>
    <visual>
      <geometry>
        <mesh filename="package://r2_description/meshes/r2_legs/r2cl_foot.dae"/>
      </geometry>
      <origin rpy="0 0 0" xyz="0 0 0"/>
    </visual>
    <collision>
      <geometry>
        <mesh filename="package://r2_description/meshes/r2_legs/r2cl_foot.dae"/>
      </geometry>
      <origin rpy="0 0 0" xyz="0 0 0"/>
    </collision>
  </link>
  <joint name="r2/left_leg/gripper/joint0" type="revolute">
    <parent link="r2/left_leg_foot"/>
    <child link="r2/left_leg/gripper/link0"/>
    <origin rpy="0.0 0 0" xyz="0 0 0"/>
    <axis xyz="0 0 1"/>
    <dynamics damping="1.0" friction="0.0"/>
    <limit effort="330.0" lower="-.5" upper=".5" velocity="1.0"/>
  </joint>
  <joint name="r2/left_leg/gripper/joint1" type="revolute">
    <parent link="r2/left_leg_foot"/>
    <child link="r2/left_leg_jaw0"/>
    <origin rpy="0.0 0 0" xyz="0.01905 0 0.17546"/>
    <axis xyz="0 -1 0"/>
    <dynamics damping="1.0" friction="0.0"/>
    <limit effort="330.0" lower="-.5" upper=".5" velocity="1.0"/>
  </joint>
  <joint name="r2/left_leg/gripper/joint2" type="revolute">
    <parent link="r2/left_leg_foot"/>
    <child link="r2/left_leg_jaw1"/>
    <origin rpy="0.0 0 0" xyz="-0.01905 0 0.17546"/>
    <axis xyz="0 1 0"/>
    <dynamics damping="1.0" friction="0.0"/>
    <limit effort="330.0" lower="-.5" upper=".5" velocity="1.0"/>
  </joint>
  <joint name="r2/fixed/left_leg_foot/left_hr_tip" type="fixed">
    <parent link="r2/left_leg_foot"/>
    <child link="r2/left_hr_tip"/>
    <origin rpy="0.0 0 0" xyz="0 0 0.19451"/>
  </joint>
  <joint name="r2/fixed/left_leg_foot/left_st_tip" type="fixed">
    <parent link="r2/left_leg_foot"/>
    <child link="r2/left_st_tip"/>
    <origin rpy="0.0 0 0" xyz="0 0 0.21991"/>
  </joint>
  <joint name="r2/fixed/left_leg_foot/left_leg_camera0_physical" type="fixed">
    <parent link="r2/left_leg_foot"/>
    <child link="r2/left_leg_camera0_physical"/>
    <origin rpy="0 0 0" xyz="-0.025 .07 0.13"/>
  </joint>
  <joint name="r2/fixed/left_leg_foot/left_leg_camera1_physical" type="fixed">
    <parent link="r2/left_leg_foot"/>
    <child link="r2/left_leg_camera1_physical"/>
    <origin rpy="0.0 0 0" xyz="0.025 .07 0.13"/>
  </joint>
  <link name="r2/left_leg/gripper/link0">
    <inertial>
      <mass value="0.01"/>
      <inertia ixx="0.0001" ixy="0.0" ixz="0.0" iyy="0.001" iyz="0.0" izz="0.001"/>
    </inertial>
  </link>
  <link name="r2/left_hr_tip">
    <inertial>
      <mass value="0.01"/>
      <inertia ixx="0.0001" ixy="0.0" ixz="0.0" iyy="0.001" iyz="0.0" izz="0.001"/>
    </inertial>
  </link>
  <link name="r2/left_st_tip">
    <inertial>
      <mass value="0.01"/>
      <inertia ixx="0.0001" ixy="0.0" ixz="0.0" iyy="0.001" iyz="0.0" izz="0.001"/>
    </inertial>
  </link>
  <link name="r2/left_leg_jaw0">
    <inertial>
      <mass value="0.16268"/>
      <inertia ixx="0.001" ixy="0.0" ixz="0.0" iyy="0.001" iyz="0.0" izz="0.001"/>
    </inertial>
    <visual>
      <geometry>
        <mesh filename="package://r2_description/meshes/r2_legs/r2cl_foot_jaw1.dae"/>
      </geometry>
      <origin rpy="0 0 0" xyz="0 0 0"/>
    </visual>
    <collision>
      <geometry>
        <mesh filename="package://r2_description/meshes/r2_legs/r2cl_foot_jaw1.dae"/>
      </geometry>
      <origin rpy="0 0 0" xyz="0 0 0"/>
    </collision>
  </link>
  <link name="r2/left_leg_jaw1">
    <inertial>
      <mass value="0.16268"/>
      <inertia ixx="0.001" ixy="0.0" ixz="0.0" iyy="0.001" iyz="0.0" izz="0.001"/>
    </inertial>
    <visual>
      <geometry>
        <mesh filename="package://r2_description/meshes/r2_legs/r2cl_foot_jaw2.dae"/>
      </geometry>
      <origin rpy="0 0 0" xyz="0 0 0"/>
    </visual>
    <collision>
      <geometry>
        <mesh filename="package://r2_description/meshes/r2_legs/r2cl_foot_jaw2.dae"/>
      </geometry>
      <origin rpy="0 0 0" xyz="0 0 0"/>
    </collision>
  </link>
  <link name="r2/left_leg_camera0_physical">
    <inertial>
      <mass value="0.01"/>
      <inertia ixx="0.0001" ixy="0.0" ixz="0.0" iyy="0.001" iyz="0.0" izz="0.001"/>
    </inertial>
  </link>
  <joint name="r2/fixed/left_leg_camera0_physical/left_leg_camera0_optical" type="fixed">
    <parent link="r2/left_leg_camera0_physical"/>
    <child link="r2/left_leg_camera0_optical"/>
    <origin rpy="0 -1.57 -1.57" xyz="0 0 .03"/>
  </joint>
  <link name="r2/left_leg_camera0_optical">
    <inertial>
      <mass value="0.01"/>
      <inertia ixx="0.0001" ixy="0.0" ixz="0.0" iyy="0.001" iyz="0.0" izz="0.001"/>
    </inertial>
  </link>
  <link name="r2/left_leg_camera1_physical">
    <inertial>
      <mass value="0.01"/>
      <inertia ixx="0.0001" ixy="0.0" ixz="0.0" iyy="0.001" iyz="0.0" izz="0.001"/>
    </inertial>
  </link>
  <joint name="r2/fixed/left_leg_camera1_physical/left_leg_camera1_optical" type="fixed">
    <parent link="r2/left_leg_camera1_physical"/>
    <child link="r2/left_leg_camera1_optical"/>
    <origin rpy="0 -1.57 -1.57" xyz="0 0 0.03"/>
  </joint>
  <link name="r2/left_leg_camera1_optical">
    <inertial>
      <mass value="0.01"/>
      <inertia ixx="0.0001" ixy="0.0" ixz="0.0" iyy="0.001" iyz="0.0" izz="0.001"/>
    </inertial>
  </link>
  <joint name="r2/fixed/pelvis/right_leg_base" type="fixed">
    <parent link="r2/pelvis"/>
    <child link="r2/right_leg_base"/>
    <origin rpy="0 0.000000 1.570796" xyz="0.0 0 0.0"/>
  </joint>
  <link name="r2/right_leg_base">
    <inertial>
      <mass value="3.2"/>
      <inertia ixx="1.0" ixy="0.0" ixz="0.0" iyy="1.0" iyz="0.0" izz="1.0"/>
    </inertial>
    <visual>
      <geometry>
        <cylinder length=".11" radius=".05"/>
      </geometry>
      <origin rpy="0 1.82 0" xyz="0.055 0.0 -.015 "/>
    </visual>
    <collision>
      <geometry>
        <cylinder length=".11" radius=".05"/>
      </geometry>
      <origin rpy="0 1.82 0" xyz="0.055 0.0 -.015 "/>
    </collision>
  </link>
  <joint name="r2/fixed/right_leg_base/right_leg_j0_base" type="fixed">
    <parent link="r2/right_leg_base"/>
    <child link="r2/right_leg_j0_base"/>
    <origin rpy="0.0 1.8325957 0" xyz="0.1104900 0.0 -0.0297180"/>
  </joint>
  <link name="r2/right_leg_j0_base">
    <inertial>
      <mass value="0.01"/>
      <inertia ixx="0.0001" ixy="0.0" ixz="0.0" iyy="0.001" iyz="0.0" izz="0.001"/>
    </inertial>
  </link>
  <joint name="r2/right_leg/joint0" type="revolute">
    <parent link="r2/right_leg_j0_base"/>
    <child link="r2/right_hip_roll"/>
    <origin rpy=" 0.000000 0 0.000000" xyz="0 0 0"/>
    <axis xyz="0 0 1"/>
    <dynamics damping="10.0" friction="0.0"/>
    <limit effort="330.0" lower="-4.71239" upper="4.71239" velocity="1.0"/>
    <traits spring_k="2.5"/>
  </joint>
  <link name="r2/right_hip_roll">
    <inertial>
      <mass value="2.33931"/>
      <inertia ixx="0.02547" ixy="0.00297" ixz="-0.00847" iyy="0.02956" iyz="0.00636" izz="0.01148"/>
    </inertial>
    <visual>
      <geometry>
        <mesh filename="package://r2_description/meshes/r2_legs/r2cl_ext_bone3.dae"/>
      </geometry>
      <origin rpy="0 0 0" xyz="0.0 0.0 0.0"/>
    </visual>
    <collision>
      <geometry>
        <mesh filename="package://r2_description/meshes/r2_legs/r2cl_ext_bone3.dae"/>
      </geometry>
      <origin rpy="0 0 0" xyz="0.0 0.0 0.0"/>
    </collision>
  </link>
  <joint name="r2/right_leg/joint1" type="revolute">
    <parent link="r2/right_hip_roll"/>
    <child link="r2/right_hip_pitch"/>
    <origin rpy="-1.570796  -0.2617994 0.0000000" xyz="0.050629765 -0.0022860 0.103498576"/>
    <axis xyz="0 0 1"/>
    <dynamics damping="5.0" friction="0.0"/>
    <limit effort="330.0" lower="-1.483" upper="1.27" velocity="1.0"/>
    <traits spring_k="2.5"/>
  </joint>
  <link name="r2/right_hip_pitch">
    <inertial>
      <mass value="4.78221"/>
      <inertia ixx="0.01671" ixy="0.02240" ixz="-0.00120" iyy="0.07877" iyz="0.00049" izz="0.08739"/>
    </inertial>
    <visual>
      <geometry>
        <mesh filename="package://r2_description/meshes/r2_legs/r2cl_ext_bone1.dae"/>
      </geometry>
      <origin rpy="0 0 0" xyz="0 0 0"/>
    </visual>
    <collision>
      <geometry>
        <mesh filename="package://r2_description/meshes/r2_legs/r2cl_ext_bone1.dae"/>
      </geometry>
      <origin rpy="0 0 0" xyz="0 0 0"/>
    </collision>
  </link>
  <joint name="r2/right_leg/joint2" type="revolute">
    <parent link="r2/right_hip_pitch"/>
    <child link="r2/right_upper_leg"/>
    <origin rpy="-1.570796 0.0 -1.570796" xyz="0.200 -0.050 0.004"/>
    <axis xyz="0 0 1"/>
    <dynamics damping="5.0" friction="0.0"/>
    <limit effort="330.0" lower="-4.71239" upper="4.71239" velocity="1.0"/>
    <traits spring_k="2.5"/>
  </joint>
  <link name="r2/right_upper_leg">
    <inertial>
      <mass value="3.73407"/>
      <inertia ixx="0.05967" ixy="-0.00299" ixz="0.00939" iyy="0.05554" iyz="0.01276" izz="0.01370"/>
    </inertial>
    <visual>
      <geometry>
        <mesh filename="package://r2_description/meshes/r2_legs/r2cl_ext_bone2.dae"/>
      </geometry>
      <origin rpy="0 0 0" xyz="0 0 0"/>
    </visual>
    <collision>
      <geometry>
        <mesh filename="package://r2_description/meshes/r2_legs/r2cl_ext_bone2.dae"/>
      </geometry>
      <origin rpy="0 0 0" xyz="0 0 0.0"/>
    </collision>
  </link>
  <joint name="r2/right_leg/joint3" type="revolute">
    <parent link="r2/right_upper_leg"/>
    <child link="r2/right_knee"/>
    <origin rpy="0.0 -1.570796 3.14159" xyz="-0.00200 -0.050  0.157"/>
    <axis xyz="0 0 1"/>
    <dynamics damping="5.0" friction="0.0"/>
    <limit effort="330.0" lower="-0.0872664" upper="2.6703515" velocity="1.0"/>
    <traits spring_k="2.5"/>
  </joint>
  <link name="r2/right_knee">
    <inertial>
      <mass value="4.78221"/>
      <inertia ixx="0.01671" ixy="0.02240" ixz="-0.00120" iyy="0.07877" iyz="0.00049" izz="0.08739"/>
    </inertial>
    <visual>
      <geometry>
        <mesh filename="package://r2_description/meshes/r2_legs/r2cl_ext_bone1.dae"/>
      </geometry>
      <origin rpy="0 0 0" xyz="0 0 0"/>
    </visual>
    <collision>
      <geometry>
        <mesh filename="package://r2_description/meshes/r2_legs/r2cl_ext_bone1.dae"/>
      </geometry>
      <material name="gold"/>
      <origin rpy="0 0 0" xyz="0 0 0"/>
    </collision>
  </link>
  <joint name="r2/right_leg/joint4" type="revolute">
    <parent link="r2/right_knee"/>
    <child link="r2/right_lower_leg"/>
    <origin rpy="0 1.570796 0" xyz="0.200 -0.050 0.004"/>
    <axis xyz="0 0 1"/>
    <dynamics damping="5.0" friction="0.0"/>
    <limit effort="330.0" lower="-4.71239" upper="4.71239" velocity="1.0"/>
    <traits spring_k="2.5"/>
  </joint>
  <link name="r2/right_lower_leg">
    <inertial>
      <mass value="3.73407"/>
      <inertia ixx="0.05967" ixy="-0.00299" ixz="0.00939" iyy="0.05554" iyz="0.01276" izz="0.01370"/>
    </inertial>
    <visual>
      <geometry>
        <mesh filename="package://r2_description/meshes/r2_legs/r2cl_ext_bone2.dae"/>
      </geometry>
      <origin rpy="0 0 0" xyz="0 0 0"/>
    </visual>
    <collision>
      <geometry>
        <mesh filename="package://r2_description/meshes/r2_legs/r2cl_ext_bone2.dae"/>
      </geometry>
      <origin rpy="0 0 0" xyz="0 0 0.0"/>
    </collision>
  </link>
  <joint name="r2/right_leg/joint5" type="revolute">
    <parent link="r2/right_lower_leg"/>
    <child link="r2/right_ankle_pitch"/>
    <origin rpy="0.0 -1.570796 3.14159" xyz="-0.002 -0.050 0.157"/>
    <axis xyz="0 0 1"/>
    <dynamics damping="5.0" friction="0.0"/>
    <limit effort="330.0" lower="-0.0872664" upper="2.6703515" velocity="1.0"/>
    <traits spring_k="2.5"/>
  </joint>
  <link name="r2/right_ankle_pitch">
    <inertial>
      <mass value="4.78221"/>
      <inertia ixx="0.01671" ixy="0.02240" ixz="-0.00120" iyy="0.07877" iyz="0.00049" izz="0.08739"/>
    </inertial>
    <visual>
      <geometry>
        <mesh filename="package://r2_description/meshes/r2_legs/r2cl_ext_bone1.dae"/>
      </geometry>
      <origin rpy="0 0 0" xyz="0 0 0"/>
    </visual>
    <collision>
      <geometry>
        <mesh filename="package://r2_description/meshes/r2_legs/r2cl_ext_bone1.dae"/>
      </geometry>
      <origin rpy="0 0 0" xyz="0 0 0"/>
    </collision>
  </link>
  <joint name="r2/right_leg/joint6" type="revolute">
    <parent link="r2/right_ankle_pitch"/>
    <child link="r2/right_ankle_roll"/>
    <origin rpy="3.14159 -1.570796 0 " xyz="0.199643 -0.0508 0.00325"/>
    <axis xyz="0 0 1"/>
    <dynamics damping="5.0" friction="0.0"/>
    <limit effort="330.0" lower="-4.71239" upper="4.71239" velocity="1.0"/>
    <traits spring_k="2.5"/>
  </joint>
  <link name="r2/right_ankle_roll">
    <inertial>
      <mass value="1.50471"/>
      <inertia ixx="0.00203" ixy="0.00003" ixz="0.0" iyy="0.00204" iyz="0.0" izz="0.00335"/>
    </inertial>
    <visual>
      <geometry>
        <cylinder length=".06" radius=".066"/>
      </geometry>
      <material name="dirty_white"/>
      <origin rpy="0 0 0" xyz="0 0 0.025"/>
    </visual>
    <collision>
      <geometry>
        <cylinder length=".06" radius=".066"/>
      </geometry>
      <material name="gold"/>
      <origin rpy="0 0 0" xyz="0 0 0.025"/>
    </collision>
  </link>
  <joint name="r2/fixed/right_ankle_roll/right_leg_foot" type="fixed">
    <parent link="r2/right_ankle_roll"/>
    <child link="r2/right_leg_foot"/>
    <origin rpy="0.0 0 0" xyz="0.0 0.0 0.04953"/>
  </joint>
  <link name="r2/right_leg_foot">
    <inertial>
      <mass value="4.40475"/>
      <inertia ixx="0.04809" ixy="0.00026" ixz="0.00038" iyy="0.04403" iyz="-0.00321" izz="0.0127"/>
    </inertial>
    <visual>
      <geometry>
        <mesh filename="package://r2_description/meshes/r2_legs/r2cl_foot.dae"/>
      </geometry>
      <material name="gold"/>
      <origin rpy="0 0 0" xyz="0 0 0"/>
    </visual>
    <collision>
      <geometry>
        <mesh filename="package://r2_description/meshes/r2_legs/r2cl_foot.dae"/>
      </geometry>
      <origin rpy="0 0 0" xyz="0 0 0"/>
    </collision>
  </link>
  <joint name="r2/right_leg/gripper/joint0" type="prismatic">
    <parent link="r2/right_leg_foot"/>
    <child link="r2/right_leg/gripper/link0"/>
    <origin rpy="0.0 0 0" xyz="0 0 0"/>
    <axis xyz="0 0 1"/>
    <dynamics damping="1.0" friction="0.0"/>
    <limit effort="330.0" lower="-.5" upper=".5" velocity="1.0"/>
  </joint>
  <joint name="r2/right_leg/gripper/joint1" type="revolute">
    <parent link="r2/right_leg_foot"/>
    <child link="r2/right_leg_jaw0"/>
    <origin rpy="0.0 0 0" xyz="0.01905 0 0.17546"/>
    <axis xyz="0 -1 0"/>
    <dynamics damping="1.0" friction="0.0"/>
    <limit effort="330.0" lower="-.5" upper=".5" velocity="1.0"/>
    <traits spring_k="2.5"/>
  </joint>
  <joint name="r2/right_leg/gripper/joint2" type="revolute">
    <parent link="r2/right_leg_foot"/>
    <child link="r2/right_leg_jaw1"/>
    <origin rpy="0.0 0 0" xyz="-0.01905 0 0.17546"/>
    <axis xyz="0 1 0"/>
    <dynamics damping="1.0" friction="0.0"/>
    <limit effort="330.0" lower="-.5" upper=".5" velocity="1.0"/>
    <traits spring_k="2.5"/>
  </joint>
  <joint name="r2/fixed/right_leg_foot/right_hr_tip" type="fixed">
    <parent link="r2/right_leg_foot"/>
    <child link="r2/right_hr_tip"/>
    <origin rpy="0.0 0 0" xyz="0 0 0.19451"/>
  </joint>
  <joint name="r2/fixed/right_leg_foot/right_st_tip" type="fixed">
    <parent link="r2/right_leg_foot"/>
    <child link="r2/right_st_tip"/>
    <origin rpy="0.0 0 0" xyz="0 0 0.21991"/>
  </joint>
  <joint name="r2/fixed/right_leg_foot/right_leg_camera0_physical" type="fixed">
    <parent link="r2/right_leg_foot"/>
    <child link="r2/right_leg_camera0_physical"/>
    <origin rpy="0.0 0  0" xyz="-0.025 .07 0.13"/>
  </joint>
  <joint name="r2/fixed/right_leg_foot/right_leg_camera1_physical" type="fixed">
    <parent link="r2/right_leg_foot"/>
    <child link="r2/right_leg_camera1_physical"/>
    <origin rpy="0.0 0  0" xyz="0.025 .07 0.13"/>
  </joint>
  <link name="r2/right_leg/gripper/link0">
    <inertial>
      <mass value="0.01"/>
      <inertia ixx="0.0001" ixy="0.0" ixz="0.0" iyy="0.001" iyz="0.0" izz="0.001"/>
    </inertial>
  </link>
  <link name="r2/right_hr_tip">
    <inertial>
      <mass value="0.01"/>
      <inertia ixx="0.0001" ixy="0.0" ixz="0.0" iyy="0.001" iyz="0.0" izz="0.001"/>
    </inertial>
  </link>
  <link name="r2/right_st_tip">
    <inertial>
      <mass value="0.01"/>
      <inertia ixx="0.0001" ixy="0.0" ixz="0.0" iyy="0.001" iyz="0.0" izz="0.001"/>
    </inertial>
  </link>
  <link name="r2/right_leg_jaw0">
    <inertial>
      <mass value="0.16268"/>
      <inertia ixx="0.001" ixy="0.0" ixz="0.0" iyy="0.001" iyz="0.0" izz="0.001"/>
    </inertial>
    <visual>
      <geometry>
        <mesh filename="package://r2_description/meshes/r2_legs/r2cl_foot_jaw1.dae"/>
      </geometry>
      <origin rpy="0 0 0" xyz="0 0 0"/>
    </visual>
    <collision>
      <geometry>
        <mesh filename="package://r2_description/meshes/r2_legs/r2cl_foot_jaw1.dae"/>
      </geometry>
      <origin rpy="0 0 0" xyz="0 0 0"/>
    </collision>
  </link>
  <link name="r2/right_leg_jaw1">
    <inertial>
      <mass value="0.16268"/>
      <inertia ixx="0.001" ixy="0.0" ixz="0.0" iyy="0.001" iyz="0.0" izz="0.001"/>
    </inertial>
    <visual>
      <geometry>
        <mesh filename="package://r2_description/meshes/r2_legs/r2cl_foot_jaw2.dae"/>
      </geometry>
      <origin rpy="0 0 0" xyz="0 0 0"/>
    </visual>
    <collision>
      <geometry>
        <mesh filename="package://r2_description/meshes/r2_legs/r2cl_foot_jaw2.dae"/>
      </geometry>
      <origin rpy="0 0 0" xyz="0 0 0"/>
    </collision>
  </link>
  <link name="r2/right_leg_camera0_physical">
    <inertial>
      <mass value="0.01"/>
      <inertia ixx="0.0001" ixy="0.0" ixz="0.0" iyy="0.001" iyz="0.0" izz="0.001"/>
    </inertial>
  </link>
  <joint name="r2/fixed/right_leg_camera0_physical/right_leg_camera0_optical" type="fixed">
    <parent link="r2/right_leg_camera0_physical"/>
    <child link="r2/right_leg_camera0_optical"/>
    <origin rpy="0 -1.57 -1.57" xyz="0 0 0.03"/>
  </joint>
  <link name="r2/right_leg_camera0_optical">
    <inertial>
      <mass value="0.01"/>
      <inertia ixx="0.0001" ixy="0.0" ixz="0.0" iyy="0.001" iyz="0.0" izz="0.001"/>
    </inertial>
  </link>
  <link name="r2/right_leg_camera1_physical">
    <inertial>
      <mass value="0.01"/>
      <inertia ixx="0.0001" ixy="0.0" ixz="0.0" iyy="0.001" iyz="0.0" izz="0.001"/>
    </inertial>
  </link>
  <joint name="r2/fixed/right_leg_camera1_physical/right_leg_camera1_optical" type="fixed">
    <parent link="r2/right_leg_camera1_physical"/>
    <child link="r2/right_leg_camera1_optical"/>
    <origin rpy="0 -1.57 -1.57" xyz="0 0 .03"/>
  </joint>
  <link name="r2/right_leg_camera1_optical">
    <inertial>
      <mass value="0.01"/>
      <inertia ixx="0.0001" ixy="0.0" ixz="0.0" iyy="0.001" iyz="0.0" izz="0.001"/>
    </inertial>
  </link>
  <gazebo reference="r2/waist_center">
    <selfCollide>false</selfCollide>
    <static>false</static>
    <turnGravityOff>false</turnGravityOff>
  </gazebo>
  <gazebo reference="r2/waist/joint0">
    <stopKd value="0.0"/>
    <stopKp value="1000.0"/>
  </gazebo>
  <gazebo reference="r2/left_shoulder_roll">
    <selfCollide>false</selfCollide>
    <static>false</static>
    <turnGravityOff>false</turnGravityOff>
  </gazebo>
  <gazebo reference="r2/left_shoulder_pitch">
    <selfCollide>false</selfCollide>
    <static>false</static>
    <turnGravityOff>false</turnGravityOff>
  </gazebo>
  <gazebo reference="r2/left_upper_arm">
    <selfCollide>false</selfCollide>
    <static>false</static>
    <turnGravityOff>false</turnGravityOff>
  </gazebo>
  <gazebo reference="r2/left_elbow">
    <selfCollide>false</selfCollide>
    <static>false</static>
    <turnGravityOff>false</turnGravityOff>
  </gazebo>
  <gazebo reference="r2/left_lower_arm">
    <selfCollide>false</selfCollide>
    <static>false</static>
    <turnGravityOff>false</turnGravityOff>
  </gazebo>
  <gazebo reference="r2/left_wrist_pitch">
    <selfCollide>false</selfCollide>
    <static>false</static>
    <turnGravityOff>false</turnGravityOff>
  </gazebo>
  <gazebo reference="r2/left_wrist_yaw">
    <selfCollide>false</selfCollide>
    <static>false</static>
    <turnGravityOff>false</turnGravityOff>
  </gazebo>
  <gazebo reference="r2/left_palm">
    <selfCollide>false</selfCollide>
    <static>false</static>
    <turnGravityOff>false</turnGravityOff>
  </gazebo>
  <gazebo reference="r2/left_arm/joint0">
    <stopKd value="0.0"/>
    <stopKp value="1000.0"/>
  </gazebo>
  <gazebo reference="r2/left_arm/joint1">
    <stopKd value="0.0"/>
    <stopKp value="1000.0"/>
  </gazebo>
  <gazebo reference="r2/left_arm/joint2">
    <stopKd value="0.0"/>
    <stopKp value="1000.0"/>
  </gazebo>
  <gazebo reference="r2/left_arm/joint3">
    <stopKd value="0.0"/>
    <stopKp value="1000.0"/>
  </gazebo>
  <gazebo reference="r2/left_arm/joint4">
    <stopKd value="0.0"/>
    <stopKp value="1000.0"/>
  </gazebo>
  <gazebo reference="r2/left_arm/joint5">
    <stopKd value="0.0"/>
    <stopKp value="1000.0"/>
  </gazebo>
  <gazebo reference="r2/left_arm/joint6">
    <stopKd value="0.0"/>
    <stopKp value="1000.0"/>
  </gazebo>
  <gazebo reference="r2/left_thumb_base">
    <selfCollide>false</selfCollide>
    <static>false</static>
    <turnGravityOff>false</turnGravityOff>
  </gazebo>
  <gazebo reference="r2/left_thumb_medial_prime">
    <selfCollide>false</selfCollide>
    <static>false</static>
    <turnGravityOff>false</turnGravityOff>
  </gazebo>
  <gazebo reference="r2/left_thumb_medial">
    <selfCollide>false</selfCollide>
    <static>false</static>
    <turnGravityOff>false</turnGravityOff>
  </gazebo>
  <gazebo reference="r2/left_thumb_distal">
    <selfCollide>false</selfCollide>
    <static>false</static>
    <turnGravityOff>false</turnGravityOff>
  </gazebo>
  <gazebo reference="r2/left_index_base">
    <selfCollide>false</selfCollide>
    <static>false</static>
    <turnGravityOff>false</turnGravityOff>
  </gazebo>
  <gazebo reference="r2/left_index_proximal">
    <selfCollide>false</selfCollide>
    <static>false</static>
    <turnGravityOff>false</turnGravityOff>
  </gazebo>
  <gazebo reference="r2/left_index_medial">
    <selfCollide>false</selfCollide>
    <static>false</static>
    <turnGravityOff>false</turnGravityOff>
  </gazebo>
  <gazebo reference="r2/left_index_distal">
    <selfCollide>false</selfCollide>
    <static>false</static>
    <turnGravityOff>false</turnGravityOff>
  </gazebo>
  <gazebo reference="r2/left_middle_base">
    <selfCollide>false</selfCollide>
    <static>false</static>
    <turnGravityOff>false</turnGravityOff>
  </gazebo>
  <gazebo reference="r2/left_middle_proximal">
    <selfCollide>false</selfCollide>
    <static>false</static>
    <turnGravityOff>false</turnGravityOff>
  </gazebo>
  <gazebo reference="r2/left_middle_medial">
    <selfCollide>false</selfCollide>
    <static>false</static>
    <turnGravityOff>false</turnGravityOff>
  </gazebo>
  <gazebo reference="r2/left_middle_distal">
    <selfCollide>false</selfCollide>
    <static>false</static>
    <turnGravityOff>false</turnGravityOff>
  </gazebo>
  <gazebo reference="r2/left_ring_proximal">
    <selfCollide>false</selfCollide>
    <static>false</static>
    <turnGravityOff>false</turnGravityOff>
  </gazebo>
  <gazebo reference="r2/left_ring_medial">
    <selfCollide>false</selfCollide>
    <static>false</static>
    <turnGravityOff>false</turnGravityOff>
  </gazebo>
  <gazebo reference="r2/left_ring_distal">
    <selfCollide>false</selfCollide>
    <static>false</static>
    <turnGravityOff>false</turnGravityOff>
  </gazebo>
  <gazebo reference="r2/left_little_proximal">
    <selfCollide>false</selfCollide>
    <static>false</static>
    <turnGravityOff>false</turnGravityOff>
  </gazebo>
  <gazebo reference="r2/left_little_medial">
    <selfCollide>false</selfCollide>
    <static>false</static>
    <turnGravityOff>false</turnGravityOff>
  </gazebo>
  <gazebo reference="r2/left_little_distal">
    <selfCollide>false</selfCollide>
    <static>false</static>
    <turnGravityOff>false</turnGravityOff>
  </gazebo>
  <gazebo reference="r2/right_shoulder_roll">
    <selfCollide>false</selfCollide>
    <static>false</static>
    <turnGravityOff>false</turnGravityOff>
  </gazebo>
  <gazebo reference="r2/right_shoulder_pitch">
    <selfCollide>false</selfCollide>
    <static>false</static>
    <turnGravityOff>false</turnGravityOff>
  </gazebo>
  <gazebo reference="r2/right_upper_arm">
    <selfCollide>false</selfCollide>
    <static>false</static>
    <turnGravityOff>false</turnGravityOff>
  </gazebo>
  <gazebo reference="r2/right_elbow">
    <selfCollide>false</selfCollide>
    <static>false</static>
    <turnGravityOff>false</turnGravityOff>
  </gazebo>
  <gazebo reference="r2/right_lower_arm">
    <selfCollide>false</selfCollide>
    <static>false</static>
    <turnGravityOff>false</turnGravityOff>
  </gazebo>
  <gazebo reference="r2/right_wrist_pitch">
    <selfCollide>false</selfCollide>
    <static>false</static>
    <turnGravityOff>false</turnGravityOff>
  </gazebo>
  <gazebo reference="r2/right_wrist_yaw">
    <selfCollide>false</selfCollide>
    <static>false</static>
    <turnGravityOff>false</turnGravityOff>
  </gazebo>
  <gazebo reference="r2/right_palm">
    <selfCollide>false</selfCollide>
    <static>false</static>
    <turnGravityOff>false</turnGravityOff>
  </gazebo>
  <gazebo reference="r2/right_arm/joint0">
    <stopKd value="0.0"/>
    <stopKp value="1000.0"/>
  </gazebo>
  <gazebo reference="r2/right_arm/joint1">
    <stopKd value="0.0"/>
    <stopKp value="1000.0"/>
  </gazebo>
  <gazebo reference="r2/right_arm/joint2">
    <stopKd value="0.0"/>
    <stopKp value="1000.0"/>
  </gazebo>
  <gazebo reference="r2/right_arm/joint3">
    <stopKd value="0.0"/>
    <stopKp value="1000.0"/>
  </gazebo>
  <gazebo reference="r2/right_arm/joint4">
    <stopKd value="0.0"/>
    <stopKp value="1000.0"/>
  </gazebo>
  <gazebo reference="r2/right_arm/joint5">
    <stopKd value="0.0"/>
    <stopKp value="1000.0"/>
  </gazebo>
  <gazebo reference="r2/right_arm/joint6">
    <stopKd value="0.0"/>
    <stopKp value="1000.0"/>
  </gazebo>
  <gazebo reference="r2/right_thumb_base">
    <selfCollide>false</selfCollide>
    <static>false</static>
    <turnGravityOff>false</turnGravityOff>
  </gazebo>
  <gazebo reference="r2/right_thumb_medial_prime">
    <selfCollide>false</selfCollide>
    <static>false</static>
    <turnGravityOff>false</turnGravityOff>
  </gazebo>
  <gazebo reference="r2/right_thumb_medial">
    <selfCollide>false</selfCollide>
    <static>false</static>
    <turnGravityOff>false</turnGravityOff>
  </gazebo>
  <gazebo reference="r2/right_thumb_distal">
    <selfCollide>false</selfCollide>
    <static>false</static>
    <turnGravityOff>false</turnGravityOff>
  </gazebo>
  <gazebo reference="r2/right_index_base">
    <selfCollide>false</selfCollide>
    <static>false</static>
    <turnGravityOff>false</turnGravityOff>
  </gazebo>
  <gazebo reference="r2/right_index_proximal">
    <selfCollide>false</selfCollide>
    <static>false</static>
    <turnGravityOff>false</turnGravityOff>
  </gazebo>
  <gazebo reference="r2/right_index_medial">
    <selfCollide>false</selfCollide>
    <static>false</static>
    <turnGravityOff>false</turnGravityOff>
  </gazebo>
  <gazebo reference="r2/right_index_distal">
    <selfCollide>false</selfCollide>
    <static>false</static>
    <turnGravityOff>false</turnGravityOff>
  </gazebo>
  <gazebo reference="r2/right_middle_base">
    <selfCollide>false</selfCollide>
    <static>false</static>
    <turnGravityOff>false</turnGravityOff>
  </gazebo>
  <gazebo reference="r2/right_middle_proximal">
    <selfCollide>false</selfCollide>
    <static>false</static>
    <turnGravityOff>false</turnGravityOff>
  </gazebo>
  <gazebo reference="r2/right_middle_medial">
    <selfCollide>false</selfCollide>
    <static>false</static>
    <turnGravityOff>false</turnGravityOff>
  </gazebo>
  <gazebo reference="r2/right_middle_distal">
    <selfCollide>false</selfCollide>
    <static>false</static>
    <turnGravityOff>false</turnGravityOff>
  </gazebo>
  <gazebo reference="r2/right_ring_proximal">
    <selfCollide>false</selfCollide>
    <static>false</static>
    <turnGravityOff>false</turnGravityOff>
  </gazebo>
  <gazebo reference="r2/right_ring_medial">
    <selfCollide>false</selfCollide>
    <static>false</static>
    <turnGravityOff>false</turnGravityOff>
  </gazebo>
  <gazebo reference="r2/right_ring_distal">
    <selfCollide>false</selfCollide>
    <static>false</static>
    <turnGravityOff>false</turnGravityOff>
  </gazebo>
  <gazebo reference="r2/right_little_proximal">
    <selfCollide>false</selfCollide>
    <static>false</static>
    <turnGravityOff>false</turnGravityOff>
  </gazebo>
  <gazebo reference="r2/right_little_medial">
    <selfCollide>false</selfCollide>
    <static>false</static>
    <turnGravityOff>false</turnGravityOff>
  </gazebo>
  <gazebo reference="r2/right_little_distal">
    <selfCollide>false</selfCollide>
    <static>false</static>
    <turnGravityOff>false</turnGravityOff>
  </gazebo>
  <gazebo reference="r2/neck_base">
    <selfCollide>false</selfCollide>
    <static>false</static>
    <turnGravityOff>false</turnGravityOff>
  </gazebo>
  <gazebo reference="r2/neck/joint0">
    <stopKd value="0.0"/>
    <stopKp value="1000.0"/>
  </gazebo>
  <gazebo reference="r2/neck_lower_pitch">
    <selfCollide>false</selfCollide>
    <static>false</static>
    <turnGravityOff>false</turnGravityOff>
  </gazebo>
  <gazebo reference="r2/neck/joint1">
    <stopKd value="0.0"/>
    <stopKp value="1000.0"/>
  </gazebo>
  <gazebo reference="r2/neck_roll">
    <selfCollide>false</selfCollide>
    <static>false</static>
    <turnGravityOff>false</turnGravityOff>
  </gazebo>
  <gazebo reference="r2/neck/joint2">
    <stopKd value="0.0"/>
    <stopKp value="1000.0"/>
  </gazebo>
  <!--   <xacro:include filename="$(find r2_gazebo)/urdf/sensors/r2.gazebo.sensors.xacro" />
 -->
  <gazebo reference="r2/pelvis">
    <selfCollide>false</selfCollide>
    <static>false</static>
    <turnGravityOff>false</turnGravityOff>
    <material></material>
  </gazebo>
  <gazebo reference="r2/left_leg">
    <selfCollide>false</selfCollide>
    <static>false</static>
    <turnGravityOff>false</turnGravityOff>
    <material></material>
  </gazebo>
  <gazebo reference="r2/left_hip_roll">
    <selfCollide>false</selfCollide>
    <static>false</static>
    <turnGravityOff>false</turnGravityOff>
    <material></material>
  </gazebo>
  <gazebo reference="r2/left_hip_pitch">
    <selfCollide>false</selfCollide>
    <static>false</static>
    <turnGravityOff>false</turnGravityOff>
    <material></material>
  </gazebo>
  <gazebo reference="r2/left_upper_leg">
    <selfCollide>false</selfCollide>
    <static>false</static>
    <turnGravityOff>false</turnGravityOff>
    <material></material>
  </gazebo>
  <gazebo reference="r2/left_knee">
    <selfCollide>false</selfCollide>
    <static>false</static>
    <turnGravityOff>false</turnGravityOff>
    <material></material>
  </gazebo>
  <gazebo reference="r2/left_lower_leg">
    <selfCollide>false</selfCollide>
    <static>false</static>
    <turnGravityOff>false</turnGravityOff>
    <material></material>
  </gazebo>
  <gazebo reference="r2/left_ankle_pitch">
    <selfCollide>false</selfCollide>
    <static>false</static>
    <turnGravityOff>false</turnGravityOff>
    <material></material>
  </gazebo>
  <gazebo reference="r2/left_ankle_roll">
    <selfCollide>false</selfCollide>
    <static>false</static>
    <turnGravityOff>false</turnGravityOff>
    <material>Gazebo/DirtyWhite</material>
  </gazebo>
  <gazebo reference="r2/left_leg_foot">
    <selfCollide>false</selfCollide>
    <static>false</static>
    <turnGravityOff>false</turnGravityOff>
    <material></material>
  </gazebo>
  <gazebo reference="r2/left_leg/gripper/link0">
    <selfCollide>false</selfCollide>
    <static>false</static>
    <turnGravityOff>false</turnGravityOff>
    <material></material>
  </gazebo>
  <gazebo reference="r2/left_leg_jaw1">
    <selfCollide>false</selfCollide>
    <static>false</static>
    <turnGravityOff>false</turnGravityOff>
    <material></material>
  </gazebo>
  <gazebo reference="r2/left_leg_jaw2">
    <selfCollide>false</selfCollide>
    <static>false</static>
    <turnGravityOff>false</turnGravityOff>
    <material></material>
  </gazebo>
  <gazebo reference="r2/right_hip_roll">
    <selfCollide>false</selfCollide>
    <static>false</static>
    <turnGravityOff>false</turnGravityOff>
    <material></material>
  </gazebo>
  <gazebo reference="r2/right_hip_pitch">
    <selfCollide>false</selfCollide>
    <static>false</static>
    <turnGravityOff>false</turnGravityOff>
    <material></material>
  </gazebo>
  <gazebo reference="r2/right_upper_leg">
    <selfCollide>false</selfCollide>
    <static>false</static>
    <turnGravityOff>false</turnGravityOff>
    <material></material>
  </gazebo>
  <gazebo reference="r2/right_knee">
    <selfCollide>false</selfCollide>
    <static>false</static>
    <turnGravityOff>false</turnGravityOff>
    <material></material>
  </gazebo>
  <gazebo reference="r2/right_lower_leg">
    <selfCollide>false</selfCollide>
    <static>false</static>
    <turnGravityOff>false</turnGravityOff>
    <material></material>
  </gazebo>
  <gazebo reference="r2/right_ankle_pitch">
    <selfCollide>false</selfCollide>
    <static>false</static>
    <turnGravityOff>false</turnGravityOff>
    <material></material>
  </gazebo>
  <gazebo reference="r2/right_ankle_roll">
    <selfCollide>false</selfCollide>
    <static>false</static>
    <turnGravityOff>false</turnGravityOff>
    <material>Gazebo/DirtyWhite</material>
  </gazebo>
  <gazebo reference="r2/right_leg_foot">
    <selfCollide>false</selfCollide>
    <static>false</static>
    <turnGravityOff>false</turnGravityOff>
    <material></material>
  </gazebo>
  <gazebo reference="r2/right_leg/gripper/link0">
    <selfCollide>false</selfCollide>
    <static>false</static>
    <turnGravityOff>false</turnGravityOff>
    <material></material>
  </gazebo>
  <gazebo reference="r2/right_leg_jaw1">
    <selfCollide>false</selfCollide>
    <static>false</static>
    <turnGravityOff>false</turnGravityOff>
    <material></material>
  </gazebo>
  <gazebo reference="r2/right_leg_jaw2">
    <selfCollide>false</selfCollide>
    <static>false</static>
    <turnGravityOff>false</turnGravityOff>
    <material></material>
  </gazebo>
  <gazebo reference="r2/left_leg/joint0">
    <stopKd value="1.0"/>
    <stopKp value="1000000.0"/>
  </gazebo>
  <gazebo reference="r2/left_leg/joint1">
    <stopKd value="1.0"/>
    <stopKp value="1000000.0"/>
  </gazebo>
  <gazebo reference="r2/left_leg/joint2">
    <stopKd value="1.0"/>
    <stopKp value="1000000.0"/>
  </gazebo>
  <gazebo reference="r2/left_leg/joint3">
    <stopKd value="1.0"/>
    <stopKp value="1000000.0"/>
  </gazebo>
  <gazebo reference="r2/left_leg/joint4">
    <stopKd value="1.0"/>
    <stopKp value="1000000.0"/>
  </gazebo>
  <gazebo reference="r2/left_leg/joint5">
    <stopKd value="1.0"/>
    <stopKp value="1000000.0"/>
  </gazebo>
  <gazebo reference="r2/left_leg/joint6">
    <stopKd value="1.0"/>
    <stopKp value="1000000.0"/>
  </gazebo>
  <gazebo reference="r2/left_leg/gripper/joint0">
    <stopKd value="1.0"/>
    <stopKp value="1000000.0"/>
  </gazebo>
  <gazebo reference="r2/left_leg/gripper/joint1">
    <stopKd value="1.0"/>
    <stopKp value="1000000.0"/>
  </gazebo>
  <gazebo reference="r2/left_leg/gripper/joint2">
    <stopKd value="1.0"/>
    <stopKp value="1000000.0"/>
  </gazebo>
  <gazebo reference="r2/right_leg/joint0">
    <stopKd value="1.0"/>
    <stopKp value="1000000.0"/>
  </gazebo>
  <gazebo reference="r2/right_leg/joint1">
    <stopKd value="1.0"/>
    <stopKp value="1000000.0"/>
  </gazebo>
  <gazebo reference="r2/right_leg/joint2">
    <stopKd value="1.0"/>
    <stopKp value="1000000.0"/>
  </gazebo>
  <gazebo reference="r2/right_leg/joint3">
    <stopKd value="1.0"/>
    <stopKp value="1000000.0"/>
  </gazebo>
  <gazebo reference="r2/right_leg/joint4">
    <stopKd value="1.0"/>
    <stopKp value="1000000.0"/>
  </gazebo>
  <gazebo reference="r2/right_leg/joint5">
    <stopKd value="1.0"/>
    <stopKp value="1000000.0"/>
  </gazebo>
  <gazebo reference="r2/right_leg/joint6">
    <stopKd value="1.0"/>
    <stopKp value="1000000.0"/>
  </gazebo>
  <gazebo reference="r2/right_leg/gripper/joint0">
    <stopKd value="1.0"/>
    <stopKp value="1000000.0"/>
  </gazebo>
  <gazebo reference="r2/right_leg/gripper/joint1">
    <stopKd value="1.0"/>
    <stopKp value="1000000.0"/>
  </gazebo>
  <gazebo reference="r2/right_leg/gripper/joint2">
    <stopKd value="1.0"/>
    <stopKp value="1000000.0"/>
  </gazebo>
  <!--   <xacro:include filename="$(find r2_gazebo)/urdf/sensors/r2_legs.gazebo.sensors.xacro" />
 -->
  <!-- <xacro:include filename="$(find r2_gazebo)/urdf/gazebo_plugins/p3d_base_controller.xacro" />
  <xacro:include filename="$(find r2_gazebo)/urdf/gazebo_plugins/gazebo_interface.xacro" />
  <xacro:include filename="$(find r2_gazebo)/urdf/gazebo_plugins/leg_grippers.xacro" />

 -->
  <transmission name="r2/waist_j0_trans">
    <type>transmission_interface/SimpleTransmission</type>
    <joint name="r2/waist/joint0"/>
    <actuator name="r2/waist_j0_motor">
      <hardwareInterface>EffortJointInterface</hardwareInterface>
      <mechanicalReduction>100</mechanicalReduction>
    </actuator>
    <motorTorqueConstant>0.01</motorTorqueConstant>
  </transmission>
  <transmission name="r2/left_arm_j0_trans">
    <type>transmission_interface/SimpleTransmission</type>
    <joint name="r2/left_arm/joint0"/>
    <actuator name="r2/left_arm_j0_motor">
      <hardwareInterface>EffortJointInterface</hardwareInterface>
      <mechanicalReduction>100</mechanicalReduction>
    </actuator>
    <motorTorqueConstant>0.01</motorTorqueConstant>
  </transmission>
  <transmission name="r2/left_arm_j1_trans">
    <type>transmission_interface/SimpleTransmission</type>
    <joint name="r2/left_arm/joint1"/>
    <actuator name="r2/left_arm_j1_motor">
      <hardwareInterface>EffortJointInterface</hardwareInterface>
      <mechanicalReduction>100</mechanicalReduction>
    </actuator>
    <motorTorqueConstant>0.01</motorTorqueConstant>
  </transmission>
  <transmission name="r2/left_arm_j2_trans">
    <type>transmission_interface/SimpleTransmission</type>
    <joint name="r2/left_arm/joint2"/>
    <actuator name="r2/left_arm_j2_motor">
      <hardwareInterface>EffortJointInterface</hardwareInterface>
      <mechanicalReduction>100</mechanicalReduction>
    </actuator>
    <motorTorqueConstant>0.01</motorTorqueConstant>
  </transmission>
  <transmission name="r2/left_arm_j3_trans">
    <type>transmission_interface/SimpleTransmission</type>
    <joint name="r2/left_arm/joint3"/>
    <actuator name="r2/left_arm_j3_motor">
      <hardwareInterface>EffortJointInterface</hardwareInterface>
      <mechanicalReduction>100</mechanicalReduction>
    </actuator>
    <motorTorqueConstant>0.01</motorTorqueConstant>
  </transmission>
  <transmission name="r2/left_arm_j4_trans">
    <type>transmission_interface/SimpleTransmission</type>
    <joint name="r2/left_arm/joint4"/>
    <actuator name="r2/left_arm_j4_motor">
      <hardwareInterface>EffortJointInterface</hardwareInterface>
      <mechanicalReduction>100</mechanicalReduction>
    </actuator>
    <motorTorqueConstant>0.01</motorTorqueConstant>
  </transmission>
  <transmission name="r2/left_arm_j5_trans">
    <type>transmission_interface/SimpleTransmission</type>
    <joint name="r2/left_arm/joint5"/>
    <actuator name="r2/left_arm_j5_motor">
      <hardwareInterface>EffortJointInterface</hardwareInterface>
      <mechanicalReduction>100</mechanicalReduction>
    </actuator>
    <motorTorqueConstant>0.01</motorTorqueConstant>
  </transmission>
  <transmission name="r2/left_arm_j6_trans">
    <type>transmission_interface/SimpleTransmission</type>
    <joint name="r2/left_arm/joint6"/>
    <actuator name="r2/left_arm_j6_motor">
      <hardwareInterface>EffortJointInterface</hardwareInterface>
      <mechanicalReduction>100</mechanicalReduction>
    </actuator>
    <motorTorqueConstant>0.01</motorTorqueConstant>
  </transmission>
  <transmission name="r2/left_arm/hand/thumb_j0_trans">
    <type>transmission_interface/SimpleTransmission</type>
    <joint name="r2/left_arm/hand/thumb/joint0"/>
    <actuator name="r2/left_arm/hand/thumb_j0_motor">
      <hardwareInterface>EffortJointInterface</hardwareInterface>
      <mechanicalReduction>100</mechanicalReduction>
    </actuator>
    <motorTorqueConstant>0.01</motorTorqueConstant>
  </transmission>
  <transmission name="r2/left_arm/hand/thumb_j1_trans">
    <type>transmission_interface/SimpleTransmission</type>
    <joint name="r2/left_arm/hand/thumb/joint1"/>
    <actuator name="r2/left_arm/hand/thumb_j1_motor">
      <hardwareInterface>EffortJointInterface</hardwareInterface>
      <mechanicalReduction>100</mechanicalReduction>
    </actuator>
    <motorTorqueConstant>0.01</motorTorqueConstant>
  </transmission>
  <transmission name="r2/left_arm/hand/thumb_j2_trans">
    <type>transmission_interface/SimpleTransmission</type>
    <joint name="r2/left_arm/hand/thumb/joint2"/>
    <actuator name="r2/left_arm/hand/thumb_j2_motor">
      <hardwareInterface>EffortJointInterface</hardwareInterface>
      <mechanicalReduction>100</mechanicalReduction>
    </actuator>
    <motorTorqueConstant>0.01</motorTorqueConstant>
  </transmission>
  <transmission name="r2/left_arm/hand/thumb_j3_trans">
    <type>transmission_interface/SimpleTransmission</type>
    <joint name="r2/left_arm/hand/thumb/joint3"/>
    <actuator name="r2/left_arm/hand/thumb_j3_motor">
      <hardwareInterface>EffortJointInterface</hardwareInterface>
      <mechanicalReduction>100</mechanicalReduction>
    </actuator>
    <motorTorqueConstant>0.01</motorTorqueConstant>
  </transmission>
  <transmission name="r2/left_arm/hand/index_j0_trans">
    <type>transmission_interface/SimpleTransmission</type>
    <joint name="r2/left_arm/hand/index/joint0"/>
    <actuator name="r2/left_arm/hand/index_j0_motor">
      <hardwareInterface>EffortJointInterface</hardwareInterface>
      <mechanicalReduction>100</mechanicalReduction>
    </actuator>
    <motorTorqueConstant>0.01</motorTorqueConstant>
  </transmission>
  <transmission name="r2/left_arm/hand/index_j1_trans">
    <type>transmission_interface/SimpleTransmission</type>
    <joint name="r2/left_arm/hand/index/joint1"/>
    <actuator name="r2/left_arm/hand/index_j1_motor">
      <hardwareInterface>EffortJointInterface</hardwareInterface>
      <mechanicalReduction>100</mechanicalReduction>
    </actuator>
    <motorTorqueConstant>0.01</motorTorqueConstant>
  </transmission>
  <transmission name="r2/left_arm/hand/index_j2_trans">
    <type>transmission_interface/SimpleTransmission</type>
    <joint name="r2/left_arm/hand/index/joint2"/>
    <actuator name="r2/left_arm/hand/index_j2_motor">
      <hardwareInterface>EffortJointInterface</hardwareInterface>
      <mechanicalReduction>100</mechanicalReduction>
    </actuator>
    <motorTorqueConstant>0.01</motorTorqueConstant>
  </transmission>
  <transmission name="r2/left_arm/hand/index_j3_trans">
    <type>transmission_interface/SimpleTransmission</type>
    <joint name="r2/left_arm/hand/index/joint3"/>
    <actuator name="r2/left_arm/hand/index_j3_motor">
      <hardwareInterface>EffortJointInterface</hardwareInterface>
      <mechanicalReduction>100</mechanicalReduction>
    </actuator>
    <motorTorqueConstant>0.01</motorTorqueConstant>
  </transmission>
  <transmission name="r2/left_arm/hand/middle_j0_trans">
    <type>transmission_interface/SimpleTransmission</type>
    <joint name="r2/left_arm/hand/middle/joint0"/>
    <actuator name="r2/left_arm/hand/middle_j0_motor">
      <hardwareInterface>EffortJointInterface</hardwareInterface>
      <mechanicalReduction>100</mechanicalReduction>
    </actuator>
    <motorTorqueConstant>0.01</motorTorqueConstant>
  </transmission>
  <transmission name="r2/left_arm/hand/middle_j1_trans">
    <type>transmission_interface/SimpleTransmission</type>
    <joint name="r2/left_arm/hand/middle/joint1"/>
    <actuator name="r2/left_arm/hand/middle_j1_motor">
      <hardwareInterface>EffortJointInterface</hardwareInterface>
      <mechanicalReduction>100</mechanicalReduction>
    </actuator>
    <motorTorqueConstant>0.01</motorTorqueConstant>
  </transmission>
  <transmission name="r2/left_arm/hand/middle_j2_trans">
    <type>transmission_interface/SimpleTransmission</type>
    <joint name="r2/left_arm/hand/middle/joint2"/>
    <actuator name="r2/left_arm/hand/middle_j2_motor">
      <hardwareInterface>EffortJointInterface</hardwareInterface>
      <mechanicalReduction>100</mechanicalReduction>
    </actuator>
    <motorTorqueConstant>0.01</motorTorqueConstant>
  </transmission>
  <transmission name="r2/left_arm/hand/middle_j3_trans">
    <type>transmission_interface/SimpleTransmission</type>
    <joint name="r2/left_arm/hand/middle/joint3"/>
    <actuator name="r2/left_arm/hand/middle_j3_motor">
      <hardwareInterface>EffortJointInterface</hardwareInterface>
      <mechanicalReduction>100</mechanicalReduction>
    </actuator>
    <motorTorqueConstant>0.01</motorTorqueConstant>
  </transmission>
  <transmission name="r2/left_arm/hand/ring_j0_trans">
    <type>transmission_interface/SimpleTransmission</type>
    <joint name="r2/left_arm/hand/ring/joint0"/>
    <actuator name="r2/left_arm/hand/ring_j0_motor">
      <hardwareInterface>EffortJointInterface</hardwareInterface>
      <mechanicalReduction>100</mechanicalReduction>
    </actuator>
    <motorTorqueConstant>0.01</motorTorqueConstant>
  </transmission>
  <transmission name="r2/left_arm/hand/ring_j1_trans">
    <type>transmission_interface/SimpleTransmission</type>
    <joint name="r2/left_arm/hand/ring/joint1"/>
    <actuator name="r2/left_arm/hand/ring_j1_motor">
      <hardwareInterface>EffortJointInterface</hardwareInterface>
      <mechanicalReduction>100</mechanicalReduction>
    </actuator>
    <motorTorqueConstant>0.01</motorTorqueConstant>
  </transmission>
  <transmission name="r2/left_arm/hand/ring_j2_trans">
    <type>transmission_interface/SimpleTransmission</type>
    <joint name="r2/left_arm/hand/ring/joint2"/>
    <actuator name="r2/left_arm/hand/ring_j2_motor">
      <hardwareInterface>EffortJointInterface</hardwareInterface>
      <mechanicalReduction>100</mechanicalReduction>
    </actuator>
    <motorTorqueConstant>0.01</motorTorqueConstant>
  </transmission>
  <transmission name="r2/left_arm/hand/little_j0_trans">
    <type>transmission_interface/SimpleTransmission</type>
    <joint name="r2/left_arm/hand/little/joint0"/>
    <actuator name="r2/left_arm/hand/little_j0_motor">
      <hardwareInterface>EffortJointInterface</hardwareInterface>
      <mechanicalReduction>100</mechanicalReduction>
    </actuator>
    <motorTorqueConstant>0.01</motorTorqueConstant>
  </transmission>
  <transmission name="r2/left_arm/hand/little_j1_trans">
    <type>transmission_interface/SimpleTransmission</type>
    <joint name="r2/left_arm/hand/little/joint1"/>
    <actuator name="r2/left_arm/hand/little_j1_motor">
      <hardwareInterface>EffortJointInterface</hardwareInterface>
      <mechanicalReduction>100</mechanicalReduction>
    </actuator>
    <motorTorqueConstant>0.01</motorTorqueConstant>
  </transmission>
  <transmission name="r2/left_arm/hand/little_j2_trans">
    <type>transmission_interface/SimpleTransmission</type>
    <joint name="r2/left_arm/hand/little/joint2"/>
    <actuator name="r2/left_arm/hand/little_j2_motor">
      <hardwareInterface>EffortJointInterface</hardwareInterface>
      <mechanicalReduction>100</mechanicalReduction>
    </actuator>
    <motorTorqueConstant>0.01</motorTorqueConstant>
  </transmission>
  <transmission name="r2/right_arm_j0_trans">
    <type>transmission_interface/SimpleTransmission</type>
    <joint name="r2/right_arm/joint0"/>
    <actuator name="r2/right_arm_j0_motor">
      <hardwareInterface>EffortJointInterface</hardwareInterface>
      <mechanicalReduction>100</mechanicalReduction>
    </actuator>
    <motorTorqueConstant>0.01</motorTorqueConstant>
  </transmission>
  <transmission name="r2/right_arm_j1_trans">
    <type>transmission_interface/SimpleTransmission</type>
    <joint name="r2/right_arm/joint1"/>
    <actuator name="r2/right_arm_j1_motor">
      <hardwareInterface>EffortJointInterface</hardwareInterface>
      <mechanicalReduction>100</mechanicalReduction>
    </actuator>
    <motorTorqueConstant>0.01</motorTorqueConstant>
  </transmission>
  <transmission name="r2/right_arm_j2_trans">
    <type>transmission_interface/SimpleTransmission</type>
    <joint name="r2/right_arm/joint2"/>
    <actuator name="r2/right_arm_j2_motor">
      <hardwareInterface>EffortJointInterface</hardwareInterface>
      <mechanicalReduction>100</mechanicalReduction>
    </actuator>
    <motorTorqueConstant>0.01</motorTorqueConstant>
  </transmission>
  <transmission name="r2/right_arm_j3_trans">
    <type>transmission_interface/SimpleTransmission</type>
    <joint name="r2/right_arm/joint3"/>
    <actuator name="r2/right_arm_j3_motor">
      <hardwareInterface>EffortJointInterface</hardwareInterface>
      <mechanicalReduction>100</mechanicalReduction>
    </actuator>
    <motorTorqueConstant>0.01</motorTorqueConstant>
  </transmission>
  <transmission name="r2/right_arm_j4_trans">
    <type>transmission_interface/SimpleTransmission</type>
    <joint name="r2/right_arm/joint4"/>
    <actuator name="r2/right_arm_j4_motor">
      <hardwareInterface>EffortJointInterface</hardwareInterface>
      <mechanicalReduction>100</mechanicalReduction>
    </actuator>
    <motorTorqueConstant>0.01</motorTorqueConstant>
  </transmission>
  <transmission name="r2/right_arm_j5_trans">
    <type>transmission_interface/SimpleTransmission</type>
    <joint name="r2/right_arm/joint5"/>
    <actuator name="r2/right_arm_j5_motor">
      <hardwareInterface>EffortJointInterface</hardwareInterface>
      <mechanicalReduction>100</mechanicalReduction>
    </actuator>
    <motorTorqueConstant>0.01</motorTorqueConstant>
  </transmission>
  <transmission name="r2/right_arm_j6_trans">
    <type>transmission_interface/SimpleTransmission</type>
    <joint name="r2/right_arm/joint6"/>
    <actuator name="r2/right_arm_j6_motor">
      <hardwareInterface>EffortJointInterface</hardwareInterface>
      <mechanicalReduction>100</mechanicalReduction>
    </actuator>
    <motorTorqueConstant>0.01</motorTorqueConstant>
  </transmission>
  <transmission name="r2/right_arm/hand/thumb_j0_trans">
    <type>transmission_interface/SimpleTransmission</type>
    <joint name="r2/right_arm/hand/thumb/joint0"/>
    <actuator name="r2/right_arm/hand/thumb_j0_motor">
      <hardwareInterface>EffortJointInterface</hardwareInterface>
      <mechanicalReduction>100</mechanicalReduction>
    </actuator>
    <motorTorqueConstant>0.01</motorTorqueConstant>
  </transmission>
  <transmission name="r2/right_arm/hand/thumb_j1_trans">
    <type>transmission_interface/SimpleTransmission</type>
    <joint name="r2/right_arm/hand/thumb/joint1"/>
    <actuator name="r2/right_arm/hand/thumb_j1_motor">
      <hardwareInterface>EffortJointInterface</hardwareInterface>
      <mechanicalReduction>100</mechanicalReduction>
    </actuator>
    <motorTorqueConstant>0.01</motorTorqueConstant>
  </transmission>
  <transmission name="r2/right_arm/hand/thumb_j2_trans">
    <type>transmission_interface/SimpleTransmission</type>
    <joint name="r2/right_arm/hand/thumb/joint2"/>
    <actuator name="r2/right_arm/hand/thumb_j2_motor">
      <hardwareInterface>EffortJointInterface</hardwareInterface>
      <mechanicalReduction>100</mechanicalReduction>
    </actuator>
    <motorTorqueConstant>0.01</motorTorqueConstant>
  </transmission>
  <transmission name="r2/right_arm/hand/thumb_j3_trans">
    <type>transmission_interface/SimpleTransmission</type>
    <joint name="r2/right_arm/hand/thumb/joint3"/>
    <actuator name="r2/right_arm/hand/thumb_j3_motor">
      <hardwareInterface>EffortJointInterface</hardwareInterface>
      <mechanicalReduction>100</mechanicalReduction>
    </actuator>
    <motorTorqueConstant>0.01</motorTorqueConstant>
  </transmission>
  <transmission name="r2/right_arm/hand/index_j0_trans">
    <type>transmission_interface/SimpleTransmission</type>
    <joint name="r2/right_arm/hand/index/joint0"/>
    <actuator name="r2/right_arm/hand/index_j0_motor">
      <hardwareInterface>EffortJointInterface</hardwareInterface>
      <mechanicalReduction>100</mechanicalReduction>
    </actuator>
    <motorTorqueConstant>0.01</motorTorqueConstant>
  </transmission>
  <transmission name="r2/right_arm/hand/index_j1_trans">
    <type>transmission_interface/SimpleTransmission</type>
    <joint name="r2/right_arm/hand/index/joint1"/>
    <actuator name="r2/right_arm/hand/index_j1_motor">
      <hardwareInterface>EffortJointInterface</hardwareInterface>
      <mechanicalReduction>100</mechanicalReduction>
    </actuator>
    <motorTorqueConstant>0.01</motorTorqueConstant>
  </transmission>
  <transmission name="r2/right_arm/hand/index_j2_trans">
    <type>transmission_interface/SimpleTransmission</type>
    <joint name="r2/right_arm/hand/index/joint2"/>
    <actuator name="r2/right_arm/hand/index_j2_motor">
      <hardwareInterface>EffortJointInterface</hardwareInterface>
      <mechanicalReduction>100</mechanicalReduction>
    </actuator>
    <motorTorqueConstant>0.01</motorTorqueConstant>
  </transmission>
  <transmission name="r2/right_arm/hand/index_j3_trans">
    <type>transmission_interface/SimpleTransmission</type>
    <joint name="r2/right_arm/hand/index/joint3"/>
    <actuator name="r2/right_arm/hand/index_j3_motor">
      <hardwareInterface>EffortJointInterface</hardwareInterface>
      <mechanicalReduction>100</mechanicalReduction>
    </actuator>
    <motorTorqueConstant>0.01</motorTorqueConstant>
  </transmission>
  <transmission name="r2/right_arm/hand/middle_j0_trans">
    <type>transmission_interface/SimpleTransmission</type>
    <joint name="r2/right_arm/hand/middle/joint0"/>
    <actuator name="r2/right_arm/hand/middle_j0_motor">
      <hardwareInterface>EffortJointInterface</hardwareInterface>
      <mechanicalReduction>100</mechanicalReduction>
    </actuator>
    <motorTorqueConstant>0.01</motorTorqueConstant>
  </transmission>
  <transmission name="r2/right_arm/hand/middle_j1_trans">
    <type>transmission_interface/SimpleTransmission</type>
    <joint name="r2/right_arm/hand/middle/joint1"/>
    <actuator name="r2/right_arm/hand/middle_j1_motor">
      <hardwareInterface>EffortJointInterface</hardwareInterface>
      <mechanicalReduction>100</mechanicalReduction>
    </actuator>
    <motorTorqueConstant>0.01</motorTorqueConstant>
  </transmission>
  <transmission name="r2/right_arm/hand/middle_j2_trans">
    <type>transmission_interface/SimpleTransmission</type>
    <joint name="r2/right_arm/hand/middle/joint2"/>
    <actuator name="r2/right_arm/hand/middle_j2_motor">
      <hardwareInterface>EffortJointInterface</hardwareInterface>
      <mechanicalReduction>100</mechanicalReduction>
    </actuator>
    <motorTorqueConstant>0.01</motorTorqueConstant>
  </transmission>
  <transmission name="r2/right_arm/hand/middle_j3_trans">
    <type>transmission_interface/SimpleTransmission</type>
    <joint name="r2/right_arm/hand/middle/joint3"/>
    <actuator name="r2/right_arm/hand/middle_j3_motor">
      <hardwareInterface>EffortJointInterface</hardwareInterface>
      <mechanicalReduction>100</mechanicalReduction>
    </actuator>
    <motorTorqueConstant>0.01</motorTorqueConstant>
  </transmission>
  <transmission name="r2/right_arm/hand/ring_j0_trans">
    <type>transmission_interface/SimpleTransmission</type>
    <joint name="r2/right_arm/hand/ring/joint0"/>
    <actuator name="r2/right_arm/hand/ring_j0_motor">
      <hardwareInterface>EffortJointInterface</hardwareInterface>
      <mechanicalReduction>100</mechanicalReduction>
    </actuator>
    <motorTorqueConstant>0.01</motorTorqueConstant>
  </transmission>
  <transmission name="r2/right_arm/hand/ring_j1_trans">
    <type>transmission_interface/SimpleTransmission</type>
    <joint name="r2/right_arm/hand/ring/joint1"/>
    <actuator name="r2/right_arm/hand/ring_j1_motor">
      <hardwareInterface>EffortJointInterface</hardwareInterface>
      <mechanicalReduction>100</mechanicalReduction>
    </actuator>
    <motorTorqueConstant>0.01</motorTorqueConstant>
  </transmission>
  <transmission name="r2/right_arm/hand/ring_j2_trans">
    <type>transmission_interface/SimpleTransmission</type>
    <joint name="r2/right_arm/hand/ring/joint2"/>
    <actuator name="r2/right_arm/hand/ring_j2_motor">
      <hardwareInterface>EffortJointInterface</hardwareInterface>
      <mechanicalReduction>100</mechanicalReduction>
    </actuator>
    <motorTorqueConstant>0.01</motorTorqueConstant>
  </transmission>
  <transmission name="r2/right_arm/hand/little_j0_trans">
    <type>transmission_interface/SimpleTransmission</type>
    <joint name="r2/right_arm/hand/little/joint0"/>
    <actuator name="r2/right_arm/hand/little_j0_motor">
      <hardwareInterface>EffortJointInterface</hardwareInterface>
      <mechanicalReduction>100</mechanicalReduction>
    </actuator>
    <motorTorqueConstant>0.01</motorTorqueConstant>
  </transmission>
  <transmission name="r2/right_arm/hand/little_j1_trans">
    <type>transmission_interface/SimpleTransmission</type>
    <joint name="r2/right_arm/hand/little/joint1"/>
    <actuator name="r2/right_arm/hand/little_j1_motor">
      <hardwareInterface>EffortJointInterface</hardwareInterface>
      <mechanicalReduction>100</mechanicalReduction>
    </actuator>
    <motorTorqueConstant>0.01</motorTorqueConstant>
  </transmission>
  <transmission name="r2/right_arm/hand/little_j2_trans">
    <type>transmission_interface/SimpleTransmission</type>
    <joint name="r2/right_arm/hand/little/joint2"/>
    <actuator name="r2/right_arm/hand/little_j2_motor">
      <hardwareInterface>EffortJointInterface</hardwareInterface>
      <mechanicalReduction>100</mechanicalReduction>
    </actuator>
    <motorTorqueConstant>0.01</motorTorqueConstant>
  </transmission>
  <transmission name="r2/neck_j0_trans">
    <type>transmission_interface/SimpleTransmission</type>
    <joint name="r2/neck/joint0"/>
    <actuator name="r2/neck_j0_motor">
      <hardwareInterface>EffortJointInterface</hardwareInterface>
      <mechanicalReduction>100</mechanicalReduction>
    </actuator>
    <motorTorqueConstant>0.01</motorTorqueConstant>
  </transmission>
  <transmission name="r2/neck_j1_trans">
    <type>transmission_interface/SimpleTransmission</type>
    <joint name="r2/neck/joint1"/>
    <actuator name="r2/neck_j1_motor">
      <hardwareInterface>EffortJointInterface</hardwareInterface>
      <mechanicalReduction>100</mechanicalReduction>
    </actuator>
    <motorTorqueConstant>0.01</motorTorqueConstant>
  </transmission>
  <transmission name="r2/neck_j2_trans">
    <type>transmission_interface/SimpleTransmission</type>
    <joint name="r2/neck/joint2"/>
    <actuator name="r2/neck_j2_motor">
      <hardwareInterface>EffortJointInterface</hardwareInterface>
      <mechanicalReduction>100</mechanicalReduction>
    </actuator>
    <motorTorqueConstant>0.01</motorTorqueConstant>
  </transmission>
  <transmission name="r2/left_leg_j0_trans">
    <type>transmission_interface/SimpleTransmission</type>
    <joint name="r2/left_leg/joint0"/>
    <actuator name="r2/left_leg_j0_motor">
      <hardwareInterface>EffortJointInterface</hardwareInterface>
      <mechanicalReduction>100</mechanicalReduction>
    </actuator>
    <motorTorqueConstant>0.01</motorTorqueConstant>
  </transmission>
  <transmission name="r2/left_leg_j1_trans">
    <type>transmission_interface/SimpleTransmission</type>
    <joint name="r2/left_leg/joint1"/>
    <actuator name="r2/left_leg_j1_motor">
      <hardwareInterface>EffortJointInterface</hardwareInterface>
      <mechanicalReduction>100</mechanicalReduction>
    </actuator>
    <motorTorqueConstant>0.01</motorTorqueConstant>
  </transmission>
  <transmission name="r2/left_leg_j2_trans">
    <type>transmission_interface/SimpleTransmission</type>
    <joint name="r2/left_leg/joint2"/>
    <actuator name="r2/left_leg_j2_motor">
      <hardwareInterface>EffortJointInterface</hardwareInterface>
      <mechanicalReduction>100</mechanicalReduction>
    </actuator>
    <motorTorqueConstant>0.01</motorTorqueConstant>
  </transmission>
  <transmission name="r2/left_leg_j3_trans">
    <type>transmission_interface/SimpleTransmission</type>
    <joint name="r2/left_leg/joint3"/>
    <actuator name="r2/left_leg_j3_motor">
      <hardwareInterface>EffortJointInterface</hardwareInterface>
      <mechanicalReduction>100</mechanicalReduction>
    </actuator>
    <motorTorqueConstant>0.01</motorTorqueConstant>
  </transmission>
  <transmission name="r2/left_leg_j4_trans">
    <type>transmission_interface/SimpleTransmission</type>
    <joint name="r2/left_leg/joint4"/>
    <actuator name="r2/left_leg_j4_motor">
      <hardwareInterface>EffortJointInterface</hardwareInterface>
      <mechanicalReduction>100</mechanicalReduction>
    </actuator>
    <motorTorqueConstant>0.01</motorTorqueConstant>
  </transmission>
  <transmission name="r2/left_leg_j5_trans">
    <type>transmission_interface/SimpleTransmission</type>
    <joint name="r2/left_leg/joint5"/>
    <actuator name="r2/left_leg_j5_motor">
      <hardwareInterface>EffortJointInterface</hardwareInterface>
      <mechanicalReduction>100</mechanicalReduction>
    </actuator>
    <motorTorqueConstant>0.01</motorTorqueConstant>
  </transmission>
  <transmission name="r2/left_leg_j6_trans">
    <type>transmission_interface/SimpleTransmission</type>
    <joint name="r2/left_leg/joint6"/>
    <actuator name="r2/left_leg_j6_motor">
      <hardwareInterface>EffortJointInterface</hardwareInterface>
      <mechanicalReduction>100</mechanicalReduction>
    </actuator>
    <motorTorqueConstant>0.01</motorTorqueConstant>
  </transmission>
  <transmission name="r2/left_leg/gripper_j0_trans">
    <type>transmission_interface/SimpleTransmission</type>
    <joint name="r2/left_leg/gripper/joint0"/>
    <actuator name="r2/left_leg/gripper_j0_motor">
      <hardwareInterface>EffortJointInterface</hardwareInterface>
      <mechanicalReduction>100</mechanicalReduction>
    </actuator>
    <motorTorqueConstant>0.01</motorTorqueConstant>
  </transmission>
  <transmission name="r2/left_leg/gripper_j1_trans">
    <type>transmission_interface/SimpleTransmission</type>
    <joint name="r2/left_leg/gripper/joint1"/>
    <actuator name="r2/left_leg/gripper_j1_motor">
      <hardwareInterface>EffortJointInterface</hardwareInterface>
      <mechanicalReduction>100</mechanicalReduction>
    </actuator>
    <motorTorqueConstant>0.01</motorTorqueConstant>
  </transmission>
  <transmission name="r2/left_leg/gripper_j2_trans">
    <type>transmission_interface/SimpleTransmission</type>
    <joint name="r2/left_leg/gripper/joint2"/>
    <actuator name="r2/left_leg/gripper_j2_motor">
      <hardwareInterface>EffortJointInterface</hardwareInterface>
      <mechanicalReduction>100</mechanicalReduction>
    </actuator>
    <motorTorqueConstant>0.01</motorTorqueConstant>
  </transmission>
  <transmission name="r2/right_leg_j0_trans">
    <type>transmission_interface/SimpleTransmission</type>
    <joint name="r2/right_leg/joint0"/>
    <actuator name="r2/right_leg_j0_motor">
      <hardwareInterface>EffortJointInterface</hardwareInterface>
      <mechanicalReduction>100</mechanicalReduction>
    </actuator>
    <motorTorqueConstant>0.01</motorTorqueConstant>
  </transmission>
  <transmission name="r2/right_leg_j1_trans">
    <type>transmission_interface/SimpleTransmission</type>
    <joint name="r2/right_leg/joint1"/>
    <actuator name="r2/right_leg_j1_motor">
      <hardwareInterface>EffortJointInterface</hardwareInterface>
      <mechanicalReduction>100</mechanicalReduction>
    </actuator>
    <motorTorqueConstant>0.01</motorTorqueConstant>
  </transmission>
  <transmission name="r2/right_leg_j2_trans">
    <type>transmission_interface/SimpleTransmission</type>
    <joint name="r2/right_leg/joint2"/>
    <actuator name="r2/right_leg_j2_motor">
      <hardwareInterface>EffortJointInterface</hardwareInterface>
      <mechanicalReduction>100</mechanicalReduction>
    </actuator>
    <motorTorqueConstant>0.01</motorTorqueConstant>
  </transmission>
  <transmission name="r2/right_leg_j3_trans">
    <type>transmission_interface/SimpleTransmission</type>
    <joint name="r2/right_leg/joint3"/>
    <actuator name="r2/right_leg_j3_motor">
      <hardwareInterface>EffortJointInterface</hardwareInterface>
      <mechanicalReduction>100</mechanicalReduction>
    </actuator>
    <motorTorqueConstant>0.01</motorTorqueConstant>
  </transmission>
  <transmission name="r2/right_leg_j4_trans">
    <type>transmission_interface/SimpleTransmission</type>
    <joint name="r2/right_leg/joint4"/>
    <actuator name="r2/right_leg_j4_motor">
      <hardwareInterface>EffortJointInterface</hardwareInterface>
      <mechanicalReduction>100</mechanicalReduction>
    </actuator>
    <motorTorqueConstant>0.01</motorTorqueConstant>
  </transmission>
  <transmission name="r2/right_leg_j5_trans">
    <type>transmission_interface/SimpleTransmission</type>
    <joint name="r2/right_leg/joint5"/>
    <actuator name="r2/right_leg_j5_motor">
      <hardwareInterface>EffortJointInterface</hardwareInterface>
      <mechanicalReduction>100</mechanicalReduction>
    </actuator>
    <motorTorqueConstant>0.01</motorTorqueConstant>
  </transmission>
  <transmission name="r2/right_leg_j6_trans">
    <type>transmission_interface/SimpleTransmission</type>
    <joint name="r2/right_leg/joint6"/>
    <actuator name="r2/right_leg_j6_motor">
      <hardwareInterface>EffortJointInterface</hardwareInterface>
      <mechanicalReduction>100</mechanicalReduction>
    </actuator>
    <motorTorqueConstant>0.01</motorTorqueConstant>
  </transmission>
  <transmission name="r2/right_leg/gripper_j0_trans">
    <type>transmission_interface/SimpleTransmission</type>
    <joint name="r2/right_leg/gripper/joint0"/>
    <actuator name="r2/right_leg/gripper_j0_motor">
      <hardwareInterface>EffortJointInterface</hardwareInterface>
      <mechanicalReduction>100</mechanicalReduction>
    </actuator>
    <motorTorqueConstant>0.01</motorTorqueConstant>
  </transmission>
  <transmission name="r2/right_leg/gripper_j1_trans">
    <type>transmission_interface/SimpleTransmission</type>
    <joint name="r2/right_leg/gripper/joint1"/>
    <actuator name="r2/right_leg/gripper_j1_motor">
      <hardwareInterface>EffortJointInterface</hardwareInterface>
      <mechanicalReduction>100</mechanicalReduction>
    </actuator>
    <motorTorqueConstant>0.01</motorTorqueConstant>
  </transmission>
  <transmission name="r2/right_leg/gripper_j2_trans">
    <type>transmission_interface/SimpleTransmission</type>
    <joint name="r2/right_leg/gripper/joint2"/>
    <actuator name="r2/right_leg/gripper_j2_motor">
      <hardwareInterface>EffortJointInterface</hardwareInterface>
      <mechanicalReduction>100</mechanicalReduction>
    </actuator>
    <motorTorqueConstant>0.01</motorTorqueConstant>
  </transmission>
</robot>
